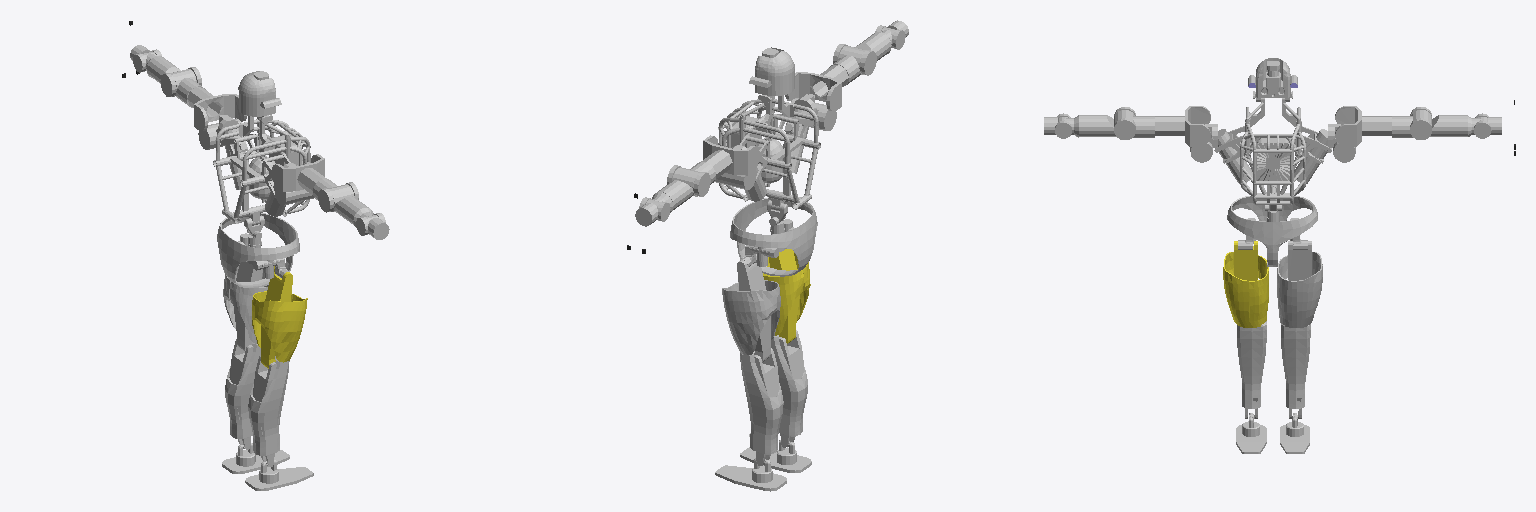
--- Render facts (derived) ---
3 views of the same robot in one strip: view 1: azimuth 30°, elevation 25°; view 2: azimuth 150°, elevation 25°; view 3: azimuth 270°, elevation 25° (orthographic).
Model drc_robot with 101 links and 100 joints (93 revolute, 7 fixed), rooted at pelvis, posed all joints at 0.
Links seen in each view (by area): view 1: utorso, r_uleg, r_lleg, pelvis, l_lleg, l_uleg, head, l_scap, r_scap, r_foot, l_larm, l_foot (+4 smaller); view 2: utorso, l_uleg, l_lleg, pelvis, r_lleg, r_uleg, head, r_scap, l_scap, l_foot, r_larm, l_larm (+6 smaller); view 3: utorso, l_uleg, r_uleg, pelvis, r_lleg, l_lleg, l_scap, r_scap, head, l_larm, r_larm, r_foot (+4 smaller).
Boxes of the visible links, <box> form: utorso: <box>213,116,310,225</box>; r_uleg: <box>252,266,307,368</box>; r_lleg: <box>248,355,289,466</box>; pelvis: <box>217,213,299,287</box>; l_lleg: <box>225,339,260,449</box>; l_uleg: <box>223,262,268,350</box>; head: <box>238,71,281,124</box>; l_scap: <box>187,87,246,131</box>; r_scap: <box>271,154,326,194</box>; r_foot: <box>245,460,313,490</box>; l_larm: <box>146,56,201,96</box>; l_foot: <box>222,443,289,473</box>; utorso: <box>718,95,820,210</box>; l_uleg: <box>722,254,780,361</box>; l_lleg: <box>740,348,783,465</box>; pelvis: <box>730,197,817,276</box>; r_lleg: <box>771,330,807,447</box>; r_uleg: <box>763,249,810,343</box>; head: <box>749,47,794,104</box>; r_scap: <box>785,65,848,111</box>; l_scap: <box>701,135,759,178</box>; l_foot: <box>715,458,786,491</box>; r_larm: <box>833,32,891,75</box>; l_larm: <box>658,165,710,209</box>; utorso: <box>1214,98,1331,204</box>; l_uleg: <box>1277,241,1322,327</box>; r_uleg: <box>1223,241,1268,327</box>; pelvis: <box>1227,196,1317,266</box>; r_lleg: <box>1237,321,1266,418</box>; l_lleg: <box>1281,323,1310,418</box>; l_scap: <box>1335,106,1391,146</box>; r_scap: <box>1155,106,1210,146</box>; head: <box>1248,58,1297,101</box>; l_larm: <box>1410,107,1467,139</box>; r_larm: <box>1079,107,1135,139</box>; r_foot: <box>1236,413,1266,453</box>.
Bounding box of the posed robot: 0.3285 × 1.91 × 1.68 m (x, y, z).
Meshes: 33 distinct files referenced, 29 mesh visuals loaded (29 Collada DAE); not drawn: 9 (reference not matched to a file when rendering).

robot.urdf — drc_robot:
<?xml version="1.0" ?>
<!-- =================================================================================== -->
<!-- |    This document was autogenerated by xacro from robots/drc_robot.model.xacro   | -->
<!-- |    EDITING THIS FILE BY HAND IS NOT RECOMMENDED                                 | -->
<!-- =================================================================================== -->
<robot name="drc_robot" xmlns:controller="http://playerstage.sourceforge.net/gazebo/xmlschema/#controller" xmlns:interface="http://playerstage.sourceforge.net/gazebo/xmlschema/#interface" xmlns:sensor="http://playerstage.sourceforge.net/gazebo/xmlschema/#sensor" xmlns:xacro="http://www.ros.org/wiki/xacro">
  <link name="head">
    <inertial>
      <mass value="2.6"/>
      <origin rpy="0 -0 0" xyz="-0.004 0 0.056"/>
      <inertia ixx="0.009" ixy="0" ixz="0" iyy="0.006" iyz="0" izz="0.007"/>
    </inertial>
    <visual>
      <origin rpy="0 -0 0" xyz="0 0 0"/>
      <geometry>
        <mesh filename="package://drc_robot/meshes/head.dae" scale="1 1 1"/>
      </geometry>
    </visual>
    <collision>
      <origin rpy="0 -0 0" xyz="0 0 0"/>
      <geometry>
        <mesh filename="package://drc_robot/meshes/head.stl" scale="1 1 1"/>
      </geometry>
    </collision>
  </link>
  <link name="l_clav">
    <inertial>
      <mass value="2.369"/>
      <origin rpy="0 -0 0" xyz="0.014 0.058 0.029"/>
      <inertia ixx="0.004" ixy="0.001" ixz="0" iyy="0.006" iyz="0" izz="0.007"/>
    </inertial>
    <visual>
      <origin rpy="0 -0 0" xyz="0 0 0"/>
      <geometry>
        <mesh filename="package://drc_robot/meshes/l_clav.dae" scale="1 1 1"/>
      </geometry>
    </visual>
    <collision>
      <origin rpy="0 -0 0" xyz="0 0 0"/>
      <geometry>
        <mesh filename="package://drc_robot/meshes/l_clav.stl" scale="1 1 1"/>
      </geometry>
    </collision>
  </link>
  <link name="l_farm">
    <inertial>
      <mass value="0.981"/>
      <origin rpy="0 -0 0" xyz="0 0.041 0"/>
      <inertia ixx="0.003" ixy="0" ixz="0" iyy="0.001" iyz="0" izz="0.003"/>
    </inertial>
    <visual>
      <origin rpy="0 -0 0" xyz="0 0 0"/>
      <geometry>
        <mesh filename="package://drc_robot/meshes/l_farm.dae" scale="1 1 1"/>
      </geometry>
    </visual>
    <collision>
      <origin rpy="0 -0 0" xyz="0 0 0"/>
      <geometry>
        <mesh filename="package://drc_robot/meshes/l_farm.stl" scale="1 1 1"/>
      </geometry>
    </collision>
  </link>
  <link name="l_foot">
    <inertial>
      <mass value="1.634"/>
      <origin rpy="0 -0 0" xyz="0.027 0 -0.067"/>
      <inertia ixx="0.002" ixy="0" ixz="0" iyy="0.007" iyz="0" izz="0.008"/>
    </inertial>
    <visual>
      <origin rpy="0 -0 0" xyz="0 0 0"/>
      <geometry>
        <mesh filename="package://drc_robot/meshes/l_foot.dae" scale="1 1 1"/>
      </geometry>
      <!--
      <origin xyz="0.048 0 -0.076119" rpy="0 0 0"/>
      <geometry>
        <box size="0.26 0.124887 0.01"/>
      </geometry>
      -->
    </visual>
    <collision>
      <origin rpy="0 -0 0" xyz="0 0 0"/>
      <geometry>
        <mesh filename="package://drc_robot/meshes/l_foot.stl" scale="1 1 1"/>
      </geometry>
      <!--
      <origin xyz="0.048 0 -0.076119" rpy="0 0 0"/>
      <geometry>
        <box size="0.26 0.124887 0.01"/>
      </geometry>
      -->
    </collision>
  </link>
  <link name="l_hand">
    <inertial>
      <mass value="2.263"/>
      <origin rpy="0 -0 0" xyz="0 0.093 0"/>
      <inertia ixx="0.01" ixy="0" ixz="0" iyy="0.002" iyz="0" izz="0.01"/>
    </inertial>
    <visual>
      <origin rpy="0 -0 0" xyz="0 0 0"/>
      <geometry>
        <mesh filename="package://drc_robot/meshes/l_hand.dae" scale="1 1 1"/>
      </geometry>
    </visual>
    <collision>
      <origin rpy="0 -0 0" xyz="0 0 0"/>
      <geometry>
        <mesh filename="package://drc_robot/meshes/l_hand.stl" scale="1 1 1"/>
      </geometry>
    </collision>
  </link>
  <link name="l_larm">
    <inertial>
      <mass value="2.148"/>
      <origin rpy="0 -0 0" xyz="-0.003 0.099 -0.014"/>
      <inertia ixx="0.005" ixy="0" ixz="0" iyy="0.003" iyz="0" izz="0.006"/>
    </inertial>
    <visual>
      <origin rpy="0 -0 0" xyz="0 0 0"/>
      <geometry>
        <mesh filename="package://drc_robot/meshes/l_larm.dae" scale="1 1 1"/>
      </geometry>
    </visual>
    <collision>
      <origin rpy="0 -0 0" xyz="0 0 0"/>
      <geometry>
        <mesh filename="package://drc_robot/meshes/l_larm.stl" scale="1 1 1"/>
      </geometry>
    </collision>
  </link>
  <link name="l_lglut">
    <inertial>
      <mass value="0.69"/>
      <origin rpy="0 -0 0" xyz="0.0133341 0.0170484 -0.0312052"/>
      <inertia ixx="0.000691326" ixy="-2.24344e-05" ixz="2.50508e-06" iyy="0.00126856" iyz="0.000137862" izz="0.00106487"/>
    </inertial>
    <visual>
      <origin rpy="0 -0 0" xyz="0 0 0"/>
      <geometry>
        <mesh filename="package://drc_robot/meshes/l_lglut.dae" scale="1 1 1"/>
      </geometry>
    </visual>
    <collision>
      <origin rpy="0 -0 0" xyz="0 0 0"/>
      <geometry>
        <mesh filename="package://drc_robot/meshes/l_lglut.stl" scale="1 1 1"/>
      </geometry>
    </collision>
  </link>
  <link name="l_lleg">
    <inertial>
      <mass value="4.367"/>
      <origin rpy="0 -0 0" xyz="0.001 0 -0.187"/>
      <inertia ixx="0.077" ixy="0" ixz="-0.003" iyy="0.076" iyz="0" izz="0.01"/>
    </inertial>
    <visual>
      <origin rpy="0 -0 0" xyz="0 0 0"/>
      <geometry>
        <mesh filename="package://drc_robot/meshes/l_lleg.dae" scale="1 1 1"/>
      </geometry>
    </visual>
    <collision>
      <origin rpy="0 -0 0" xyz="0 0 0"/>
      <geometry>
        <mesh filename="package://drc_robot/meshes/l_lleg.stl" scale="1 1 1"/>
      </geometry>
    </collision>
  </link>
  <link name="l_scap">
    <inertial>
      <mass value="2.707"/>
      <origin rpy="0 -0 0" xyz="-0.002 0.108 0"/>
      <inertia ixx="0.01" ixy="0" ixz="0" iyy="0.005" iyz="0" izz="0.013"/>
    </inertial>
    <visual>
      <origin rpy="0 -0 0" xyz="0 0 0"/>
      <geometry>
        <mesh filename="package://drc_robot/meshes/l_scap.dae" scale="1 1 1"/>
      </geometry>
    </visual>
    <collision>
      <origin rpy="0 -0 0" xyz="0 0 0"/>
      <geometry>
        <mesh filename="package://drc_robot/meshes/l_scap.stl" scale="1 1 1"/>
      </geometry>
    </collision>
  </link>
  <link name="l_talus">
    <inertial>
      <mass value="0.1"/>
      <origin rpy="0 -0 0" xyz="0 0 0"/>
      <inertia ixx="1.01674e-05" ixy="0" ixz="0" iyy="8.42775e-06" iyz="0" izz="1.30101e-05"/>
    </inertial>
    <visual>
      <origin rpy="0 -0 0" xyz="0 0 0"/>
      <geometry>
        <mesh filename="package://drc_robot/meshes/l_talus.dae" scale="1 1 1"/>
      </geometry>
    </visual>
    <collision>
      <origin rpy="0 -0 0" xyz="0 0 0"/>
      <geometry>
        <mesh filename="package://drc_robot/meshes/l_talus.stl" scale="1 1 1"/>
      </geometry>
    </collision>
  </link>
  <link name="l_uarm">
    <inertial>
      <mass value="1.881"/>
      <origin rpy="0 -0 0" xyz="0.007 0.114 0.008"/>
      <inertia ixx="0.002" ixy="0" ixz="0" iyy="0.003" iyz="0" izz="0.003"/>
    </inertial>
    <visual>
      <origin rpy="0 -0 0" xyz="0 0 0"/>
      <geometry>
        <mesh filename="package://drc_robot/meshes/l_uarm.dae" scale="1 1 1"/>
      </geometry>
    </visual>
    <collision>
      <origin rpy="0 -0 0" xyz="0 0 0"/>
      <geometry>
        <mesh filename="package://drc_robot/meshes/l_uarm.stl" scale="1 1 1"/>
      </geometry>
    </collision>
  </link>
  <link name="l_uglut">
    <inertial>
      <mass value="0.5166"/>
      <origin rpy="0 -0 0" xyz="0.00529262 -0.00344732 0.00313046"/>
      <inertia ixx="0.00074276" ixy="-3.79607e-08" ixz="-2.79549e-05" iyy="0.000688179" iyz="-3.2735e-08" izz="0.00041242"/>
    </inertial>
    <visual>
      <origin rpy="0 -0 0" xyz="0 0 0"/>
      <geometry>
        <mesh filename="package://drc_robot/meshes/l_uglut.dae" scale="1 1 1"/>
      </geometry>
    </visual>
    <collision>
      <origin rpy="0 -0 0" xyz="0 0 0"/>
      <geometry>
        <mesh filename="package://drc_robot/meshes/l_uglut.stl" scale="1 1 1"/>
      </geometry>
    </collision>
  </link>
  <link name="l_uleg">
    <inertial>
      <mass value="7.34"/>
      <origin rpy="0 -0 0" xyz="0 0 -0.21"/>
      <inertia ixx="0.09" ixy="0" ixz="0" iyy="0.09" iyz="0" izz="0.02"/>
    </inertial>
    <visual>
      <origin rpy="0 -0 0" xyz="0 0 0"/>
      <geometry>
        <mesh filename="package://drc_robot/meshes/l_uleg.dae" scale="1 1 1"/>
      </geometry>
    </visual>
    <collision>
      <origin rpy="0 -0 0" xyz="0 0 0"/>
      <geometry>
        <mesh filename="package://drc_robot/meshes/l_uleg.stl" scale="1 1 1"/>
      </geometry>
    </collision>
  </link>
  <link name="ltorso">
    <inertial>
      <mass value="1.92"/>
      <origin rpy="0 -0 0" xyz="-0.0112984 -3.15366e-06 0.0746835"/>
      <inertia ixx="0.0039092" ixy="-5.04491e-08" ixz="-0.000342157" iyy="0.00341694" iyz="4.87119e-07" izz="0.00174492"/>
    </inertial>
    <visual>
      <origin rpy="0 -0 0" xyz="0 0 0"/>
      <geometry>
        <mesh filename="package://drc_robot/meshes/ltorso.dae" scale="1 1 1"/>
      </geometry>
    </visual>
    <collision>
      <origin rpy="0 -0 0" xyz="0 0 0"/>
      <geometry>
        <mesh filename="package://drc_robot/meshes/ltorso.stl" scale="1 1 1"/>
      </geometry>
    </collision>
  </link>
  <link name="mtorso">
    <inertial>
      <mass value="0.55"/>
      <origin rpy="0 -0 0" xyz="-0.00816266 -0.0131245 0.0305974"/>
      <inertia ixx="0.000454181" ixy="-6.10764e-05" ixz="3.94009e-05" iyy="0.000483282" iyz="5.27463e-05" izz="0.000444215"/>
    </inertial>
    <visual>
      <origin rpy="0 -0 0" xyz="0 0 0"/>
      <geometry>
        <mesh filename="package://drc_robot/meshes/mtorso.dae" scale="1 1 1"/>
      </geometry>
    </visual>
    <collision>
      <origin rpy="0 -0 0" xyz="0 0 0"/>
      <geometry>
        <mesh filename="package://drc_robot/meshes/mtorso.stl" scale="1 1 1"/>
      </geometry>
    </collision>
  </link>
  <link name="pelvis">
    <inertial>
      <mass value="14.2529"/>
      <origin rpy="0 -0 0" xyz="0.0111 0 0.0271"/>
      <inertia ixx="0.1244" ixy="0.0008" ixz="-0.0007" iyy="0.0958" iyz="-0.0005" izz="0.1167"/>
    </inertial>
    <visual>
      <origin rpy="0 -0 0" xyz="0 0 0"/>
      <geometry>
        <mesh filename="package://drc_robot/meshes/pelvis.dae" scale="1 1 1"/>
      </geometry>
    </visual>
    <collision>
      <origin rpy="0 -0 0" xyz="0 0 0"/>
      <geometry>
        <mesh filename="package://drc_robot/meshes/pelvis.stl" scale="1 1 1"/>
      </geometry>
    </collision>
  </link>
  <link name="r_clav">
    <inertial>
      <mass value="2.369"/>
      <origin rpy="0 -0 0" xyz="0.014 -0.058 0.029"/>
      <inertia ixx="0.004" ixy="-0.001" ixz="0" iyy="0.006" iyz="0" izz="0.007"/>
    </inertial>
    <visual>
      <origin rpy="0 -0 0" xyz="0 0 0"/>
      <geometry>
        <mesh filename="package://drc_robot/meshes/r_clav.dae" scale="1 1 1"/>
      </geometry>
    </visual>
    <collision>
      <origin rpy="0 -0 0" xyz="0 0 0"/>
      <geometry>
        <mesh filename="package://drc_robot/meshes/r_clav.stl" scale="1 1 1"/>
      </geometry>
    </collision>
  </link>
  <link name="r_farm">
    <inertial>
      <mass value="0.981"/>
      <origin rpy="0 -0 0" xyz="0 -0.041 0"/>
      <inertia ixx="0.003" ixy="0" ixz="0" iyy="0.001" iyz="0" izz="0.003"/>
    </inertial>
    <visual>
      <origin rpy="0 -0 0" xyz="0 0 0"/>
      <geometry>
        <mesh filename="package://drc_robot/meshes/r_farm.dae" scale="1 1 1"/>
      </geometry>
    </visual>
    <collision>
      <origin rpy="0 -0 0" xyz="0 0 0"/>
      <geometry>
        <mesh filename="package://drc_robot/meshes/r_farm.stl" scale="1 1 1"/>
      </geometry>
    </collision>
  </link>
  <link name="r_foot">
    <inertial>
      <mass value="1.634"/>
      <origin rpy="0 -0 0" xyz="0.027 0 -0.067"/>
      <inertia ixx="0.002" ixy="0" ixz="0" iyy="0.007" iyz="0" izz="0.008"/>
    </inertial>
    <visual>
      <origin rpy="0 -0 0" xyz="0 0 0"/>
      <geometry>
        <mesh filename="package://drc_robot/meshes/r_foot.dae" scale="1 1 1"/>
      </geometry>
      <!--
      <origin xyz="0.048 0 -0.076119" rpy="0 0 0"/>
      <geometry>
        <box size="0.26 0.124887 0.01"/>
      </geometry>
      -->
    </visual>
    <collision>
      <origin rpy="0 -0 0" xyz="0 0 0"/>
      <geometry>
        <mesh filename="package://drc_robot/meshes/r_foot.stl" scale="1 1 1"/>
      </geometry>
      <!--
      <origin xyz="0.048 0 -0.076119" rpy="0 0 0"/>
      <geometry>
        <box size="0.26 0.124887 0.01"/>
      </geometry>
      -->
    </collision>
  </link>
  <link name="r_hand">
    <inertial>
      <mass value="2.263"/>
      <origin rpy="0 -0 0" xyz="0 -0.093 0"/>
      <inertia ixx="0.01" ixy="0" ixz="0" iyy="0.002" iyz="0" izz="0.01"/>
    </inertial>
    <visual>
      <origin rpy="0 -0 0" xyz="0 0 0"/>
      <geometry>
        <mesh filename="package://drc_robot/meshes/r_hand.dae" scale="1 1 1"/>
      </geometry>
    </visual>
    <collision>
      <origin rpy="0 -0 0" xyz="0 0 0"/>
      <geometry>
        <mesh filename="package://drc_robot/meshes/r_hand.stl" scale="1 1 1"/>
      </geometry>
    </collision>
  </link>
  <link name="r_larm">
    <inertial>
      <mass value="2.148"/>
      <origin rpy="0 -0 0" xyz="-0.003 -0.099 -0.014"/>
      <inertia ixx="0.005" ixy="0" ixz="0" iyy="0.003" iyz="0" izz="0.006"/>
    </inertial>
    <visual>
      <origin rpy="0 -0 0" xyz="0 0 0"/>
      <geometry>
        <mesh filename="package://drc_robot/meshes/r_larm.dae" scale="1 1 1"/>
      </geometry>
    </visual>
    <collision>
      <origin rpy="0 -0 0" xyz="0 0 0"/>
      <geometry>
        <mesh filename="package://drc_robot/meshes/r_larm.stl" scale="1 1 1"/>
      </geometry>
    </collision>
  </link>
  <link name="r_lglut">
    <inertial>
      <mass value="0.69"/>
      <origin rpy="0 -0 0" xyz="0.0133341 -0.0170484 -0.0312052"/>
      <inertia ixx="0.000691326" ixy="2.24344e-05" ixz="2.50508e-06" iyy="0.00126856" iyz="-0.000137862" izz="0.00106487"/>
    </inertial>
    <visual>
      <origin rpy="0 -0 0" xyz="0 0 0"/>
      <geometry>
        <mesh filename="package://drc_robot/meshes/r_lglut.dae" scale="1 1 1"/>
      </geometry>
    </visual>
    <collision>
      <origin rpy="0 -0 0" xyz="0 0 0"/>
      <geometry>
        <mesh filename="package://drc_robot/meshes/r_lglut.stl" scale="1 1 1"/>
      </geometry>
    </collision>
  </link>
  <link name="r_lleg">
    <inertial>
      <mass value="4.367"/>
      <origin rpy="0 -0 0" xyz="0.001 0 -0.187"/>
      <inertia ixx="0.077" ixy="-0" ixz="-0.003" iyy="0.076" iyz="-0" izz="0.01"/>
    </inertial>
    <visual>
      <origin rpy="0 -0 0" xyz="0 0 0"/>
      <geometry>
        <mesh filename="package://drc_robot/meshes/r_lleg.dae" scale="1 1 1"/>
      </geometry>
    </visual>
    <collision>
      <origin rpy="0 -0 0" xyz="0 0 0"/>
      <geometry>
        <mesh filename="package://drc_robot/meshes/r_lleg.stl" scale="1 1 1"/>
      </geometry>
    </collision>
  </link>
  <link name="r_scap">
    <inertial>
      <mass value="2.707"/>
      <origin rpy="0 -0 0" xyz="-0.002 -0.108 0"/>
      <inertia ixx="0.01" ixy="0" ixz="0" iyy="0.005" iyz="0" izz="0.013"/>
    </inertial>
    <visual>
      <origin rpy="0 -0 0" xyz="0 0 0"/>
      <geometry>
        <mesh filename="package://drc_robot/meshes/r_scap.dae" scale="1 1 1"/>
      </geometry>
    </visual>
    <collision>
      <origin rpy="0 -0 0" xyz="0 0 0"/>
      <geometry>
        <mesh filename="package://drc_robot/meshes/r_scap.stl" scale="1 1 1"/>
      </geometry>
    </collision>
  </link>
  <link name="r_talus">
    <inertial>
      <mass value="0.1"/>
      <origin rpy="0 -0 0" xyz="0 0 0"/>
      <inertia ixx="1.01674e-05" ixy="0" ixz="0" iyy="8.42775e-06" iyz="0" izz="1.30101e-05"/>
    </inertial>
    <visual>
      <origin rpy="0 -0 0" xyz="0 0 0"/>
      <geometry>
        <mesh filename="package://drc_robot/meshes/r_talus.dae" scale="1 1 1"/>
      </geometry>
    </visual>
    <collision>
      <origin rpy="0 -0 0" xyz="0 0 0"/>
      <geometry>
        <mesh filename="package://drc_robot/meshes/r_talus.stl" scale="1 1 1"/>
      </geometry>
    </collision>
  </link>
  <link name="r_uarm">
    <inertial>
      <mass value="1.881"/>
      <origin rpy="0 -0 0" xyz="0.007 -0.114 0.008"/>
      <inertia ixx="0.002" ixy="0" ixz="0" iyy="0.003" iyz="0" izz="0.003"/>
    </inertial>
    <visual>
      <origin rpy="0 -0 0" xyz="0 0 0"/>
      <geometry>
        <mesh filename="package://drc_robot/meshes/r_uarm.dae" scale="1 1 1"/>
      </geometry>
    </visual>
    <collision>
      <origin rpy="0 -0 0" xyz="0 0 0"/>
      <geometry>
        <mesh filename="package://drc_robot/meshes/r_uarm.stl" scale="1 1 1"/>
      </geometry>
    </collision>
  </link>
  <link name="r_uglut">
    <inertial>
      <mass value="0.5166"/>
      <origin rpy="0 -0 0" xyz="0.00529262 0.00344732 0.00313046"/>
      <inertia ixx="0.00074276" ixy="3.79607e-08" ixz="-2.79549e-05" iyy="0.000688179" iyz="3.2735e-08" izz="0.00041242"/>
    </inertial>
    <visual>
      <origin rpy="0 -0 0" xyz="0 0 0"/>
      <geometry>
        <mesh filename="package://drc_robot/meshes/r_uglut.dae" scale="1 1 1"/>
      </geometry>
    </visual>
    <collision>
      <origin rpy="0 -0 0" xyz="0 0 0"/>
      <geometry>
        <mesh filename="package://drc_robot/meshes/r_uglut.stl" scale="1 1 1"/>
      </geometry>
    </collision>
  </link>
  <link name="r_uleg">
    <inertial>
      <mass value="7.34"/>
      <origin rpy="0 -0 0" xyz="0 0 -0.21"/>
      <inertia ixx="0.09" ixy="0" ixz="0" iyy="0.09" iyz="0" izz="0.02"/>
    </inertial>
    <visual>
      <origin rpy="0 -0 0" xyz="0 0 0"/>
      <geometry>
        <mesh filename="package://drc_robot/meshes/r_uleg.dae" scale="1 1 1"/>
      </geometry>
    </visual>
    <collision>
      <origin rpy="0 -0 0" xyz="0 0 0"/>
      <geometry>
        <mesh filename="package://drc_robot/meshes/r_uleg.stl" scale="1 1 1"/>
      </geometry>
    </collision>
  </link>
  <link name="utorso">
    <inertial>
      <mass value="18.484"/>
      <origin rpy="0 -0 0" xyz="0.02 -0.001 0.211"/>
      <inertia ixx="0.395" ixy="0" ixz="0.083" iyy="1.089" iyz="-0.003" izz="0.327"/>
    </inertial>
    <visual>
      <origin rpy="0 -0 0" xyz="0 0 0"/>
      <geometry>
        <mesh filename="package://drc_robot/meshes/utorso.dae" scale="1 1 1"/>
      </geometry>
    </visual>
    <collision>
      <origin rpy="0 -0 0" xyz="0 0 0"/>
      <geometry>
        <mesh filename="package://drc_robot/meshes/utorso.stl" scale="1 1 1"/>
      </geometry>
    </collision>
  </link>
  <joint name="back_lbz" type="revolute">
    <origin rpy="0 -0 0" xyz="-0.0125 0 0"/>
    <axis xyz="0 0 1"/>
    <parent link="pelvis"/>
    <child link="ltorso"/>
    <dynamics damping="0.1" friction="0"/>
    <limit effort="124.016" lower="-0.610865" upper="0.610865" velocity="12"/>
    <safety_controller k_position="100" k_velocity="100" soft_lower_limit="-10.6109" soft_upper_limit="10.6109"/>
  </joint>
  <joint name="back_mby" type="revolute">
    <origin rpy="0 -0 0" xyz="0 0 0.09"/>
    <axis xyz="0 1 0"/>
    <parent link="ltorso"/>
    <child link="mtorso"/>
    <dynamics damping="0.1" friction="0"/>
    <limit effort="206.843" lower="-1.2" upper="1.28" velocity="12"/>
    <safety_controller k_position="100" k_velocity="100" soft_lower_limit="-11.2" soft_upper_limit="11.28"/>
  </joint>
  <joint name="back_ubx" type="revolute">
    <origin rpy="0 -0 0" xyz="0 0 0.05"/>
    <axis xyz="1 0 0"/>
    <parent link="mtorso"/>
    <child link="utorso"/>
    <dynamics damping="0.1" friction="0"/>
    <limit effort="94.91" lower="-0.790809" upper="0.790809" velocity="12"/>
    <safety_controller k_position="100" k_velocity="100" soft_lower_limit="-10.7908" soft_upper_limit="10.7908"/>
  </joint>
  <joint name="l_arm_elx" type="revolute">
    <origin rpy="0 -0 0" xyz="0 0.121 0.013"/>
    <axis xyz="1 0 0"/>
    <parent link="l_uarm"/>
    <child link="l_larm"/>
    <dynamics damping="0.1" friction="0"/>
    <limit effort="114" lower="0" upper="2.35619" velocity="12"/>
    <safety_controller k_position="100" k_velocity="100" soft_lower_limit="-10" soft_upper_limit="12.3562"/>
  </joint>
  <joint name="l_arm_ely" type="revolute">
    <origin rpy="0 -0 0" xyz="0 0.185 0"/>
    <axis xyz="0 1 0"/>
    <parent link="l_scap"/>
    <child link="l_uarm"/>
    <dynamics damping="0.1" friction="0"/>
    <limit effort="114" lower="0" upper="3.14159" velocity="12"/>
    <safety_controller k_position="100" k_velocity="100" soft_lower_limit="-10" soft_upper_limit="13.1416"/>
  </joint>
  <joint name="l_arm_mwx" type="revolute">
    <origin rpy="0 -0 0" xyz="0 0.058 0"/>
    <axis xyz="1 0 0"/>
    <parent link="l_farm"/>
    <child link="l_hand"/>
    <dynamics damping="0.1" friction="0"/>
    <limit effort="60" lower="-0.436" upper="1.571" velocity="12"/>
    <safety_controller k_position="100" k_velocity="100" soft_lower_limit="-10.436" soft_upper_limit="11.571"/>
  </joint>
  <joint name="l_arm_shx" type="revolute">
    <origin rpy="0 -0 0" xyz="0 0.075 0.036"/>
    <axis xyz="1 0 0"/>
    <parent link="l_clav"/>
    <child link="l_scap"/>
    <dynamics damping="0.1" friction="0"/>
    <limit effort="170" lower="-1.39626" upper="1.74533" velocity="12"/>
    <safety_controller k_position="100" k_velocity="100" soft_lower_limit="-11.3963" soft_upper_limit="11.7453"/>
  </joint>
  <joint name="l_arm_usy" type="revolute">
    <origin rpy="0 -0 0" xyz="0.024 0.221 0.289"/>
    <axis xyz="0 0.5 0.866025"/>
    <parent link="utorso"/>
    <child link="l_clav"/>
    <dynamics damping="0.1" friction="0"/>
    <limit effort="212" lower="-1.9635" upper="1.9635" velocity="12"/>
    <safety_controller k_position="100" k_velocity="100" soft_lower_limit="-11.9635" soft_upper_limit="11.9635"/>
  </joint>
  <joint name="l_arm_uwy" type="revolute">
    <origin rpy="0 -0 0" xyz="0 0.188 -0.013"/>
    <axis xyz="0 1 0"/>
    <parent link="l_larm"/>
    <child link="l_farm"/>
    <dynamics damping="0.1" friction="0"/>
    <limit effort="114" lower="-1.571" upper="1.571" velocity="12"/>
    <safety_controller k_position="100" k_velocity="100" soft_lower_limit="-11.571" soft_upper_limit="11.571"/>
  </joint>
  <joint name="l_leg_kny" type="revolute">
    <origin rpy="0 -0 0" xyz="-0.05 0 -0.374"/>
    <axis xyz="0 1 0"/>
    <parent link="l_uleg"/>
    <child link="l_lleg"/>
    <dynamics damping="0.1" friction="0"/>
    <limit effort="220" lower="0" upper="2.45" velocity="12"/>
    <safety_controller k_position="100" k_velocity="100" soft_lower_limit="-10" soft_upper_limit="12.45"/>
  </joint>
  <joint name="l_leg_lax" type="revolute">
    <origin rpy="0 -0 0" xyz="0 0 0"/>
    <axis xyz="1 0 0"/>
    <parent link="l_talus"/>
    <child link="l_foot"/>
    <dynamics damping="0.1" friction="0"/>
    <limit effort="90" lower="-0.436" upper="0.436" velocity="12"/>
    <safety_controller k_position="100" k_velocity="100" soft_lower_limit="-10.436" soft_upper_limit="10.436"/>
  </joint>
  <joint name="l_leg_lhy" type="revolute">
    <origin rpy="0 -0 0" xyz="0.05 0 -0.05"/>
    <axis xyz="0 1 0"/>
    <parent link="l_lglut"/>
    <child link="l_uleg"/>
    <dynamics damping="0.1" friction="0"/>
    <limit effort="260" lower="-1.75" upper="0.524" velocity="12"/>
    <safety_controller k_position="100" k_velocity="100" soft_lower_limit="-11.75" soft_upper_limit="10.524"/>
  </joint>
  <joint name="l_leg_mhx" type="revolute">
    <origin rpy="0 -0 0" xyz="0 0 0"/>
    <axis xyz="1 0 0"/>
    <parent link="l_uglut"/>
    <child link="l_lglut"/>
    <dynamics damping="0.1" friction="0"/>
    <limit effort="180" lower="-0.47" upper="0.495" velocity="12"/>
    <safety_controller k_position="100" k_velocity="100" soft_lower_limit="-10.47" soft_upper_limit="10.495"/>
  </joint>
  <joint name="l_leg_uay" type="revolute">
    <origin rpy="0 -0 0" xyz="0 0 -0.422"/>
    <axis xyz="0 1 0"/>
    <parent link="l_lleg"/>
    <child link="l_talus"/>
    <dynamics damping="0.1" friction="0"/>
    <limit effort="220" lower="-0.698" upper="0.698" velocity="12"/>
    <safety_controller k_position="100" k_velocity="100" soft_lower_limit="-10.698" soft_upper_limit="10.698"/>
  </joint>
  <joint name="l_leg_uhz" type="revolute">
    <origin rpy="0 -0 0" xyz="0 0.089 0"/>
    <axis xyz="0 0 1"/>
    <parent link="pelvis"/>
    <child link="l_uglut"/>
    <dynamics damping="0.1" friction="0"/>
    <limit effort="110" lower="-0.32" upper="1.14" velocity="12"/>
    <safety_controller k_position="100" k_velocity="100" soft_lower_limit="-10.32" soft_upper_limit="11.14"/>
  </joint>
  <joint name="neck_ay" type="revolute">
    <origin rpy="0 -0 0" xyz="0.011 0 0.44"/>
    <axis xyz="0 1 0"/>
    <parent link="utorso"/>
    <child link="head"/>
    <dynamics damping="0.1" friction="0"/>
    <limit effort="5" lower="-0.785398" upper="0.785398" velocity="12"/>
    <safety_controller k_position="100" k_velocity="100" soft_lower_limit="-10.7854" soft_upper_limit="10.7854"/>
  </joint>
  <joint name="r_arm_elx" type="revolute">
    <origin rpy="0 -0 0" xyz="0 -0.121 0.013"/>
    <axis xyz="1 0 0"/>
    <parent link="r_uarm"/>
    <child link="r_larm"/>
    <dynamics damping="0.1" friction="0"/>
    <limit effort="114" lower="-2.35619" upper="0" velocity="12"/>
    <safety_controller k_position="100" k_velocity="100" soft_lower_limit="-12.3562" soft_upper_limit="10"/>
  </joint>
  <joint name="r_arm_ely" type="revolute">
    <origin rpy="0 -0 0" xyz="0 -0.185 0"/>
    <axis xyz="0 1 0"/>
    <parent link="r_scap"/>
    <child link="r_uarm"/>
    <dynamics damping="0.1" friction="0"/>
    <limit effort="114" lower="0" upper="3.14159" velocity="12"/>
    <safety_controller k_position="100" k_velocity="100" soft_lower_limit="-10" soft_upper_limit="13.1416"/>
  </joint>
  <joint name="r_arm_mwx" type="revolute">
    <origin rpy="0 -0 0" xyz="0 -0.058 0"/>
    <axis xyz="1 0 0"/>
    <parent link="r_farm"/>
    <child link="r_hand"/>
    <dynamics damping="0.1" friction="0"/>
    <limit effort="60" lower="-1.571" upper="0.436" velocity="12"/>
    <safety_controller k_position="100" k_velocity="100" soft_lower_limit="-11.571" soft_upper_limit="10.436"/>
  </joint>
  <joint name="r_arm_shx" type="revolute">
    <origin rpy="0 -0 0" xyz="0 -0.075 0.036"/>
    <axis xyz="1 0 0"/>
    <parent link="r_clav"/>
    <child link="r_scap"/>
    <dynamics damping="0.1" friction="0"/>
    <limit effort="170" lower="-1.74533" upper="1.39626" velocity="12"/>
    <safety_controller k_position="100" k_velocity="100" soft_lower_limit="-11.7453" soft_upper_limit="11.3963"/>
  </joint>
  <joint name="r_arm_usy" type="revolute">
    <origin rpy="0 -0 0" xyz="0.024 -0.221 0.289"/>
    <axis xyz="0 0.5 -0.866025"/>
    <parent link="utorso"/>
    <child link="r_clav"/>
    <dynamics damping="0.1" friction="0"/>
    <limit effort="212" lower="-1.9635" upper="1.9635" velocity="12"/>
    <safety_controller k_position="100" k_velocity="100" soft_lower_limit="-11.9635" soft_upper_limit="11.9635"/>
  </joint>
  <joint name="r_arm_uwy" type="revolute">
    <origin rpy="0 -0 0" xyz="0 -0.188 -0.013"/>
    <axis xyz="0 1 0"/>
    <parent link="r_larm"/>
    <child link="r_farm"/>
    <dynamics damping="0.1" friction="0"/>
    <limit effort="114" lower="-1.571" upper="1.571" velocity="12"/>
    <safety_controller k_position="100" k_velocity="100" soft_lower_limit="-11.571" soft_upper_limit="11.571"/>
  </joint>
  <joint name="r_leg_kny" type="revolute">
    <origin rpy="0 -0 0" xyz="-0.05 0 -0.374"/>
    <axis xyz="0 1 0"/>
    <parent link="r_uleg"/>
    <child link="r_lleg"/>
    <dynamics damping="0.1" friction="0"/>
    <limit effort="220" lower="0" upper="2.45" velocity="12"/>
    <safety_controller k_position="100" k_velocity="100" soft_lower_limit="-10" soft_upper_limit="12.45"/>
  </joint>
  <joint name="r_leg_lax" type="revolute">
    <origin rpy="0 -0 0" xyz="0 0 0"/>
    <axis xyz="1 0 0"/>
    <parent link="r_talus"/>
    <child link="r_foot"/>
    <dynamics damping="0.1" friction="0"/>
    <limit effort="90" lower="-0.436" upper="0.436" velocity="12"/>
    <safety_controller k_position="100" k_velocity="100" soft_lower_limit="-10.436" soft_upper_limit="10.436"/>
  </joint>
  <joint name="r_leg_lhy" type="revolute">
    <origin rpy="0 -0 0" xyz="0.05 0 -0.05"/>
    <axis xyz="0 1 0"/>
    <parent link="r_lglut"/>
    <child link="r_uleg"/>
    <dynamics damping="0.1" friction="0"/>
    <limit effort="260" lower="-1.745" upper="0.524" velocity="12"/>
    <safety_controller k_position="100" k_velocity="100" soft_lower_limit="-11.745" soft_upper_limit="10.524"/>
  </joint>
  <joint name="r_leg_mhx" type="revolute">
    <origin rpy="0 -0 0" xyz="0 0 0"/>
    <axis xyz="1 0 0"/>
    <parent link="r_uglut"/>
    <child link="r_lglut"/>
    <dynamics damping="0.1" friction="0"/>
    <limit effort="180" lower="-0.495" upper="0.47" velocity="12"/>
    <safety_controller k_position="100" k_velocity="100" soft_lower_limit="-10.495" soft_upper_limit="10.47"/>
  </joint>
  <joint name="r_leg_uay" type="revolute">
    <origin rpy="0 -0 0" xyz="0 0 -0.422"/>
    <axis xyz="0 1 0"/>
    <parent link="r_lleg"/>
    <child link="r_talus"/>
    <dynamics damping="0.1" friction="0"/>
    <limit effort="220" lower="-0.698" upper="0.698" velocity="12"/>
    <safety_controller k_position="100" k_velocity="100" soft_lower_limit="-10.698" soft_upper_limit="10.698"/>
  </joint>
  <joint name="r_leg_uhz" type="revolute">
    <origin rpy="0 -0 0" xyz="0 -0.089 0"/>
    <axis xyz="0 0 1"/>
    <parent link="pelvis"/>
    <child link="r_uglut"/>
    <dynamics damping="0.1" friction="0"/>
    <limit effort="260" lower="-1.14" upper="0.32" velocity="12"/>
    <safety_controller k_position="100" k_velocity="100" soft_lower_limit="-11.14" soft_upper_limit="10.32"/>
  </joint>
  <gazebo>
    <!-- robot model offset -->
    <pose>0 0 0.93 0 0 0</pose>
  </gazebo>
  <gazebo>
    <plugin filename="libDRCRobotPlugin.so" name="drc_robot_plugin"/>
    <plugin filename="libgazebo_ros_joint_trajectory.so" name="joint_trajectory_plugin">
      <topicName>joint_trajectory</topicName>
      <updateRate>1000.0</updateRate>
    </plugin>
    <plugin filename="libgazebo_ros_controller_manager.so" name="gazebo_ros_controller_manager">
      <alwaysOn>true</alwaysOn>
      <updateRate>1000.0</updateRate>
    </plugin>
  </gazebo>
  <link name="imu_link">
    <inertial>
      <mass value="0.1"/>
      <origin xyz="0 0 0"/>
      <inertia ixx="0.001" ixy="0" ixz="0" iyy="0.001" iyz="0" izz="0.001"/>
    </inertial>
    <collision>
      <origin rpy="0 0 0" xyz="0 0 0"/>
      <geometry>
        <box size="0.01 0.01 0.01"/>
      </geometry>
    </collision>
    <visual>
      <origin rpy="0 0 0" xyz="0 0 0"/>
      <geometry>
        <box size="0.01 0.01 0.01"/>
      </geometry>
    </visual>
  </link>
  <joint name="imu_joint" type="fixed">
    <parent link="pelvis"/>
    <child link="imu_link"/>
    <origin rpy="0.05991527603 0 -0.01415" xyz="0 0 0"/>
  </joint>
  <gazebo>
    <plugin filename="libgazebo_ros_imu.so" name="drc_robot_imu">
      <alwaysOn>true</alwaysOn>
      <updateRate>100.0</updateRate>
      <bodyName>imu_link</bodyName>
      <topicName>imu</topicName>
      <gaussianNoise>0.0</gaussianNoise>
      <xyzOffsets>0 0 0</xyzOffsets>
      <rpyOffsets>0 0 0</rpyOffsets>
    </plugin>
  </gazebo>
  <gazebo reference="r_foot">
    <mu1>10.0</mu1>
    <mu2>10.0</mu2>
    <fdir1>1 0 0</fdir1>
    <maxVel>0.0</maxVel>
    <minDepth>0.001</minDepth>
  </gazebo>
  <gazebo reference="l_foot">
    <mu1>10.0</mu1>
    <mu2>10.0</mu2>
    <fdir1>1 0 0</fdir1>
    <maxVel>0.0</maxVel>
    <minDepth>0.001</minDepth>
  </gazebo>
  <transmission name="back_lbz_trans" type="pr2_mechanism_model/SimpleTransmission">
    <joint name="back_lbz"/>
    <actuator name="back_lbz_motor"/>
    <mechanicalReduction>1</mechanicalReduction>
  </transmission>
  <transmission name="back_mby_trans" type="pr2_mechanism_model/SimpleTransmission">
    <actuator name="back_mby_motor"/>
    <joint name="back_mby"/>
    <mechanicalReduction>1</mechanicalReduction>
  </transmission>
  <transmission name="back_ubx_trans" type="pr2_mechanism_model/SimpleTransmission">
    <actuator name="back_ubx_motor"/>
    <joint name="back_ubx"/>
    <mechanicalReduction>1</mechanicalReduction>
  </transmission>
  <transmission name="l_arm_elx_trans" type="pr2_mechanism_model/SimpleTransmission">
    <actuator name="l_arm_elx_motor"/>
    <joint name="l_arm_elx"/>
    <mechanicalReduction>1</mechanicalReduction>
  </transmission>
  <transmission name="l_arm_ely_trans" type="pr2_mechanism_model/SimpleTransmission">
    <actuator name="l_arm_ely_motor"/>
    <joint name="l_arm_ely"/>
    <mechanicalReduction>1</mechanicalReduction>
  </transmission>
  <transmission name="l_arm_mwx_trans" type="pr2_mechanism_model/SimpleTransmission">
    <actuator name="l_arm_mwx_motor"/>
    <joint name="l_arm_mwx"/>
    <mechanicalReduction>1</mechanicalReduction>
  </transmission>
  <transmission name="l_arm_shx_trans" type="pr2_mechanism_model/SimpleTransmission">
    <actuator name="l_arm_shx_motor"/>
    <joint name="l_arm_shx"/>
    <mechanicalReduction>1</mechanicalReduction>
  </transmission>
  <transmission name="l_arm_usy_trans" type="pr2_mechanism_model/SimpleTransmission">
    <actuator name="l_arm_usy_motor"/>
    <joint name="l_arm_usy"/>
    <mechanicalReduction>1</mechanicalReduction>
  </transmission>
  <transmission name="l_arm_uwy_trans" type="pr2_mechanism_model/SimpleTransmission">
    <actuator name="l_arm_uwy_motor"/>
    <joint name="l_arm_uwy"/>
    <mechanicalReduction>1</mechanicalReduction>
  </transmission>
  <transmission name="l_leg_kny_trans" type="pr2_mechanism_model/SimpleTransmission">
    <actuator name="l_leg_kny_motor"/>
    <joint name="l_leg_kny"/>
    <mechanicalReduction>1</mechanicalReduction>
  </transmission>
  <transmission name="l_leg_lax_trans" type="pr2_mechanism_model/SimpleTransmission">
    <actuator name="l_leg_lax_motor"/>
    <joint name="l_leg_lax"/>
    <mechanicalReduction>1</mechanicalReduction>
  </transmission>
  <transmission name="l_leg_lhy_trans" type="pr2_mechanism_model/SimpleTransmission">
    <actuator name="l_leg_lhy_motor"/>
    <joint name="l_leg_lhy"/>
    <mechanicalReduction>1</mechanicalReduction>
  </transmission>
  <transmission name="l_leg_mhx_trans" type="pr2_mechanism_model/SimpleTransmission">
    <actuator name="l_leg_mhx_motor"/>
    <joint name="l_leg_mhx"/>
    <mechanicalReduction>1</mechanicalReduction>
  </transmission>
  <transmission name="l_leg_uay_trans" type="pr2_mechanism_model/SimpleTransmission">
    <actuator name="l_leg_uay_motor"/>
    <joint name="l_leg_uay"/>
    <mechanicalReduction>1</mechanicalReduction>
  </transmission>
  <transmission name="l_leg_uhz_trans" type="pr2_mechanism_model/SimpleTransmission">
    <actuator name="l_leg_uhz_motor"/>
    <joint name="l_leg_uhz"/>
    <mechanicalReduction>1</mechanicalReduction>
  </transmission>
  <transmission name="neck_ay_trans" type="pr2_mechanism_model/SimpleTransmission">
    <actuator name="neck_ay_motor"/>
    <joint name="neck_ay"/>
    <mechanicalReduction>1</mechanicalReduction>
  </transmission>
  <transmission name="r_arm_elx_trans" type="pr2_mechanism_model/SimpleTransmission">
    <actuator name="r_arm_elx_motor"/>
    <joint name="r_arm_elx"/>
    <mechanicalReduction>1</mechanicalReduction>
  </transmission>
  <transmission name="r_arm_ely_trans" type="pr2_mechanism_model/SimpleTransmission">
    <actuator name="r_arm_ely_motor"/>
    <joint name="r_arm_ely"/>
    <mechanicalReduction>1</mechanicalReduction>
  </transmission>
  <transmission name="r_arm_mwx_trans" type="pr2_mechanism_model/SimpleTransmission">
    <actuator name="r_arm_mwx_motor"/>
    <joint name="r_arm_mwx"/>
    <mechanicalReduction>1</mechanicalReduction>
  </transmission>
  <transmission name="r_arm_shx_trans" type="pr2_mechanism_model/SimpleTransmission">
    <actuator name="r_arm_shx_motor"/>
    <joint name="r_arm_shx"/>
    <mechanicalReduction>1</mechanicalReduction>
  </transmission>
  <transmission name="r_arm_usy_trans" type="pr2_mechanism_model/SimpleTransmission">
    <actuator name="r_arm_usy_motor"/>
    <joint name="r_arm_usy"/>
    <mechanicalReduction>1</mechanicalReduction>
  </transmission>
  <transmission name="r_arm_uwy_trans" type="pr2_mechanism_model/SimpleTransmission">
    <actuator name="r_arm_uwy_motor"/>
    <joint name="r_arm_uwy"/>
    <mechanicalReduction>1</mechanicalReduction>
  </transmission>
  <transmission name="r_leg_kny_trans" type="pr2_mechanism_model/SimpleTransmission">
    <actuator name="r_leg_kny_motor"/>
    <joint name="r_leg_kny"/>
    <mechanicalReduction>1</mechanicalReduction>
  </transmission>
  <transmission name="r_leg_lax_trans" type="pr2_mechanism_model/SimpleTransmission">
    <actuator name="r_leg_lax_motor"/>
    <joint name="r_leg_lax"/>
    <mechanicalReduction>1</mechanicalReduction>
  </transmission>
  <transmission name="r_leg_lhy_trans" type="pr2_mechanism_model/SimpleTransmission">
    <actuator name="r_leg_lhy_motor"/>
    <joint name="r_leg_lhy"/>
    <mechanicalReduction>1</mechanicalReduction>
  </transmission>
  <transmission name="r_leg_mhx_trans" type="pr2_mechanism_model/SimpleTransmission">
    <actuator name="r_leg_mhx_motor"/>
    <joint name="r_leg_mhx"/>
    <mechanicalReduction>1</mechanicalReduction>
  </transmission>
  <transmission name="r_leg_uay_trans" type="pr2_mechanism_model/SimpleTransmission">
    <actuator name="r_leg_uay_motor"/>
    <joint name="r_leg_uay"/>
    <mechanicalReduction>1</mechanicalReduction>
  </transmission>
  <transmission name="r_leg_uhz_trans" type="pr2_mechanism_model/SimpleTransmission">
    <actuator name="r_leg_uhz_motor"/>
    <joint name="r_leg_uhz"/>
    <mechanicalReduction>1</mechanicalReduction>
  </transmission>
  <joint name="head_hokuyo_joint" type="fixed">
    <axis xyz="0 1 0"/>
    <origin rpy="0 0 0" xyz="0.03 0 0.13"/>
    <parent link="head"/>
    <child link="head_hokuyo"/>
  </joint>
  <link name="head_hokuyo" type="laser">
    <inertial>
      <mass value="0.1"/>
      <origin rpy="0 0 0" xyz="0 0 0"/>
      <inertia ixx="0.001" ixy="0" ixz="0" iyy="0.001" iyz="0" izz="0.001"/>
    </inertial>
  </link>
  <gazebo reference="head_hokuyo">
    <sensor name="head_hokuyo_sensor" type="ray">
      <pose>0 0 0 0 0 0</pose>
      <visualize>false</visualize>
      <update_rate>40</update_rate>
      <ray>
        <scan>
          <horizontal>
            <samples>640</samples>
            <resolution>1</resolution>
            <min_angle>-1.57</min_angle>
            <max_angle>1.57</max_angle>
          </horizontal>
        </scan>
        <range>
          <min>0.08</min>
          <max>10.0</max>
          <resolution>0.01</resolution>
        </range>
      </ray>
      <plugin filename="libgazebo_ros_laser.so" name="gazebo_ros_head_hokuyo_controller">
        <gaussianNoise>0.005</gaussianNoise>
        <alwaysOn>true</alwaysOn>
        <updateRate>40</updateRate>
        <topicName>/scan</topicName>
        <frameName>head_hokuyo</frameName>
      </plugin>
    </sensor>
  </gazebo>
  <joint name="left_camera_frame_joint" type="fixed">
    <origin xyz="0.03 0.1 0.1"/>
    <parent link="head"/>
    <child link="left_camera_frame"/>
  </joint>
  <link name="left_camera_frame">
    <inertial>
      <mass value="0.1"/>
      <origin xyz="0 0 0"/>
      <inertia ixx="0.001" ixy="0.0" ixz="0.0" iyy="0.001" iyz="0.0" izz="0.001"/>
    </inertial>
  </link>
  <joint name="left_camera_optical_frame_joint" type="fixed">
    <origin rpy="-1.5708 0.0 -1.5708" xyz="0 0 0"/>
    <parent link="left_camera_frame"/>
    <child link="left_camera_optical_frame"/>
  </joint>
  <link name="left_camera_optical_frame"/>
  <gazebo reference="left_camera_frame">
    <sensor name="left_camera_sensor" type="camera">
      <update_rate>25.0</update_rate>
      <camera>
        <horizontal_fov>1.5708</horizontal_fov>
        <image>
          <width>320</width>
          <height>240</height>
          <format>R8G8B8</format>
        </image>
        <clip>
          <near>0.01</near>
          <far>100</far>
        </clip>
      </camera>
      <plugin filename="libgazebo_ros_camera.so" name="left_camera_controller">
        <alwaysOn>true</alwaysOn>
        <updateRate>25.0</updateRate>
        <cameraName>multisense_sl/left</cameraName>
        <imageTopicName>image_raw</imageTopicName>
        <cameraInfoTopicName>camera_info</cameraInfoTopicName>
        <frameName>left_camera_optical_frame</frameName>
        <hackBaseline>0.0</hackBaseline>
        <distortionK1>0.0</distortionK1>
        <distortionK2>0.0</distortionK2>
        <distortionK3>0.0</distortionK3>
        <distortionT1>0.0</distortionT1>
        <distortionT2>0.0</distortionT2>
      </plugin>
    </sensor>
  </gazebo>
  <joint name="right_camera_frame_joint" type="fixed">
    <origin xyz="0.03 -0.1 0.1"/>
    <parent link="head"/>
    <child link="right_camera_frame"/>
  </joint>
  <link name="right_camera_frame">
    <inertial>
      <mass value="0.1"/>
      <origin xyz="0 0 0"/>
      <inertia ixx="0.001" ixy="0.0" ixz="0.0" iyy="0.001" iyz="0.0" izz="0.001"/>
    </inertial>
  </link>
  <joint name="right_camera_optical_frame_joint" type="fixed">
    <origin rpy="-1.5708 0.0 -1.5708" xyz="0 0 0"/>
    <parent link="right_camera_frame"/>
    <child link="right_camera_optical_frame"/>
  </joint>
  <link name="right_camera_optical_frame"/>
  <gazebo reference="right_camera_frame">
    <sensor name="right_camera_sensor" type="camera">
      <update_rate>25.0</update_rate>
      <camera>
        <horizontal_fov>1.5708</horizontal_fov>
        <image>
          <width>320</width>
          <height>240</height>
          <format>R8G8B8</format>
        </image>
        <clip>
          <near>0.01</near>
          <far>100</far>
        </clip>
      </camera>
      <plugin filename="libgazebo_ros_camera.so" name="right_camera_controller">
        <alwaysOn>true</alwaysOn>
        <updateRate>25.0</updateRate>
        <cameraName>multisense_sl/right</cameraName>
        <imageTopicName>image_raw</imageTopicName>
        <cameraInfoTopicName>camera_info</cameraInfoTopicName>
        <frameName>left_camera_optical_frame</frameName>
        <hackBaseline>0.2</hackBaseline>
        <!-- check this -->
        <distortionK1>0.0</distortionK1>
        <distortionK2>0.0</distortionK2>
        <distortionK3>0.0</distortionK3>
        <distortionT1>0.0</distortionT1>
        <distortionT2>0.0</distortionT2>
      </plugin>
    </sensor>
  </gazebo>


  <!-- joint to irobot hand -->
  <joint name="irobot_hand_joint" type="fixed">
    <origin rpy="-1.57079 0 0" xyz="0 0.05 0"/>
    <parent link="l_hand"/>
    <child link="base_link"/>
  </joint>

  <!-- irobot hand -->
  <link name="finger[0]/flexible_link_1">
    <inertial>
      <mass value="0.1"/>
      <origin xyz="0 0 0"/>
      <inertia ixx="0.001" ixy="0.0" ixz="0.0" iyy="0.001" iyz="0.0" izz="0.001"/>
    </inertial>
    <collision>
      <geometry>
        <box size=".014 0.00176 .006"/>
      </geometry>
      <origin rpy="1.57 0 0" xyz="0 0 0"/>
    </collision>
    <visual>
      <geometry>
        <box size=".014 0.00176 .006"/>
      </geometry>
      <origin rpy="1.57 0 0" xyz="0 0 0"/>
      <material name="darkgray">
        <color rgba="0.2 0.2 0.2 1"/>
      </material>
    </visual>
  </link>
  <link name="finger[0]/flexible_link_2">
    <inertial>
      <mass value="0.1"/>
      <origin xyz="0 0 0"/>
      <inertia ixx="0.001" ixy="0.0" ixz="0.0" iyy="0.001" iyz="0.0" izz="0.001"/>
    </inertial>
    <collision>
      <geometry>
        <box size=".014 0.00176 .006"/>
      </geometry>
      <origin rpy="1.57 0 0" xyz="0 0 0"/>
    </collision>
    <visual>
      <geometry>
        <box size=".014 0.00176 .006"/>
      </geometry>
      <origin rpy="1.57 0 0" xyz="0 0 0"/>
      <material name="darkgray">
        <color rgba="0.2 0.2 0.2 1"/>
      </material>
    </visual>
  </link>
  <link name="finger[0]/flexible_link_3">
    <inertial>
      <mass value="0.1"/>
      <origin xyz="0 0 0"/>
      <inertia ixx="0.001" ixy="0.0" ixz="0.0" iyy="0.001" iyz="0.0" izz="0.001"/>
    </inertial>
    <collision>
      <geometry>
        <box size=".014 0.00176 .006"/>
      </geometry>
      <origin rpy="1.57 0 0" xyz="0 0 0"/>
    </collision>
    <visual>
      <geometry>
        <box size=".014 0.00176 .006"/>
      </geometry>
      <origin rpy="1.57 0 0" xyz="0 0 0"/>
      <material name="darkgray">
        <color rgba="0.2 0.2 0.2 1"/>
      </material>
    </visual>
  </link>
  <link name="finger[0]/flexible_link_4">
    <inertial>
      <mass value="0.1"/>
      <origin xyz="0 0 0"/>
      <inertia ixx="0.001" ixy="0.0" ixz="0.0" iyy="0.001" iyz="0.0" izz="0.001"/>
    </inertial>
    <collision>
      <geometry>
        <box size=".014 0.00176 .006"/>
      </geometry>
      <origin rpy="1.57 0 0" xyz="0 0 0"/>
    </collision>
    <visual>
      <geometry>
        <box size=".014 0.00176 .006"/>
      </geometry>
      <origin rpy="1.57 0 0" xyz="0 0 0"/>
      <material name="darkgray">
        <color rgba="0.2 0.2 0.2 1"/>
      </material>
    </visual>
  </link>
  <link name="finger[0]/flexible_link_5">
    <inertial>
      <mass value="0.1"/>
      <origin xyz="0 0 0"/>
      <inertia ixx="0.001" ixy="0.0" ixz="0.0" iyy="0.001" iyz="0.0" izz="0.001"/>
    </inertial>
    <collision>
      <geometry>
        <box size=".014 0.00176 .006"/>
      </geometry>
      <origin rpy="1.57 0 0" xyz="0 0 0"/>
    </collision>
    <visual>
      <geometry>
        <box size=".014 0.00176 .006"/>
      </geometry>
      <origin rpy="1.57 0 0" xyz="0 0 0"/>
      <material name="darkgray">
        <color rgba="0.2 0.2 0.2 1"/>
      </material>
    </visual>
  </link>
  <link name="finger[0]/flexible_link_6">
    <inertial>
      <mass value="0.1"/>
      <origin xyz="0 0 0"/>
      <inertia ixx="0.001" ixy="0.0" ixz="0.0" iyy="0.001" iyz="0.0" izz="0.001"/>
    </inertial>
    <collision>
      <geometry>
        <box size=".014 0.00176 .006"/>
      </geometry>
      <origin rpy="1.57 0 0" xyz="0 0 0"/>
    </collision>
    <visual>
      <geometry>
        <box size=".014 0.00176 .006"/>
      </geometry>
      <origin rpy="1.57 0 0" xyz="0 0 0"/>
      <material name="darkgray">
        <color rgba="0.2 0.2 0.2 1"/>
      </material>
    </visual>
  </link>
  <link name="finger[0]/flexible_link_7">
    <inertial>
      <mass value="0.1"/>
      <origin xyz="0 0 0"/>
      <inertia ixx="0.001" ixy="0.0" ixz="0.0" iyy="0.001" iyz="0.0" izz="0.001"/>
    </inertial>
    <collision>
      <geometry>
        <box size=".014 0.00176 .006"/>
      </geometry>
      <origin rpy="1.57 0 0" xyz="0 0 0"/>
    </collision>
    <visual>
      <geometry>
        <box size=".014 0.00176 .006"/>
      </geometry>
      <origin rpy="1.57 0 0" xyz="0 0 0"/>
      <material name="darkgray">
        <color rgba="0.2 0.2 0.2 1"/>
      </material>
    </visual>
  </link>
  <link name="finger[0]/flexible_link_8">
    <inertial>
      <mass value="0.1"/>
      <origin xyz="0 0 0"/>
      <inertia ixx="0.001" ixy="0.0" ixz="0.0" iyy="0.001" iyz="0.0" izz="0.001"/>
    </inertial>
    <collision>
      <geometry>
        <box size=".014 0.00176 .006"/>
      </geometry>
      <origin rpy="1.57 0 0" xyz="0 0 0"/>
    </collision>
    <visual>
      <geometry>
        <box size=".014 0.00176 .006"/>
      </geometry>
      <origin rpy="1.57 0 0" xyz="0 0 0"/>
      <material name="darkgray">
        <color rgba="0.2 0.2 0.2 1"/>
      </material>
    </visual>
  </link>
  <link name="finger[0]/flexible_link_9">
    <inertial>
      <mass value="0.1"/>
      <origin xyz="0 0 0"/>
      <inertia ixx="0.001" ixy="0.0" ixz="0.0" iyy="0.001" iyz="0.0" izz="0.001"/>
    </inertial>
    <collision>
      <geometry>
        <box size=".014 0.00176 .006"/>
      </geometry>
      <origin rpy="1.57 0 0" xyz="0 0 0"/>
    </collision>
    <visual>
      <geometry>
        <box size=".014 0.00176 .006"/>
      </geometry>
      <origin rpy="1.57 0 0" xyz="0 0 0"/>
      <material name="darkgray">
        <color rgba="0.2 0.2 0.2 1"/>
      </material>
    </visual>
  </link>
  <joint name="finger[0]/flexible_joint_flex_from_1_to_2" type="revolute">
    <parent link="finger[0]/flexible_link_1"/>
    <child link="finger[0]/flexible_link_hidden_between_1_and_2"/>
    <origin xyz="0 0 0.00177777777778"/>
    <axis xyz="-1 0 0"/>
    <limit effort="1000.0" lower="0.0" upper="1.57" velocity="0.5"/>
  </joint>
  <link name="finger[0]/flexible_link_hidden_between_1_and_2">
    <inertial>
      <mass value="0.1"/>
      <origin xyz="0 0 0"/>
      <inertia ixx="0.001" ixy="0.0" ixz="0.0" iyy="0.001" iyz="0.0" izz="0.001"/>
    </inertial>
    <collision>
      <geometry>
        <box size="0 0 0"/>
      </geometry>
      <origin rpy="0 0 0" xyz="0 0 0"/>
    </collision>
    <visual>
      <geometry>
        <box size="0 0 0"/>
      </geometry>
      <origin rpy="0 0 0" xyz="0 0 0"/>
    </visual>
  </link>
  <joint name="finger[0]/flexible_joint_twist_from_1_to_2" type="revolute">
    <parent link="finger[0]/flexible_link_hidden_between_1_and_2"/>
    <child link="finger[0]/flexible_link_2"/>
    <origin xyz="0 0 0"/>
    <axis xyz="0 0 1"/>
    <limit effort="1000.0" lower="0.0" upper="1.57" velocity="0.5"/>
  </joint>
  <joint name="finger[0]/flexible_joint_flex_from_2_to_3" type="revolute">
    <parent link="finger[0]/flexible_link_2"/>
    <child link="finger[0]/flexible_link_hidden_between_2_and_3"/>
    <origin xyz="0 0 0.00177777777778"/>
    <axis xyz="-1 0 0"/>
    <limit effort="1000.0" lower="0.0" upper="1.57" velocity="0.5"/>
  </joint>
  <link name="finger[0]/flexible_link_hidden_between_2_and_3">
    <inertial>
      <mass value="0.1"/>
      <origin xyz="0 0 0"/>
      <inertia ixx="0.001" ixy="0.0" ixz="0.0" iyy="0.001" iyz="0.0" izz="0.001"/>
    </inertial>
    <collision>
      <geometry>
        <box size="0 0 0"/>
      </geometry>
      <origin rpy="0 0 0" xyz="0 0 0"/>
    </collision>
    <visual>
      <geometry>
        <box size="0 0 0"/>
      </geometry>
      <origin rpy="0 0 0" xyz="0 0 0"/>
    </visual>
  </link>
  <joint name="finger[0]/flexible_joint_twist_from_2_to_3" type="revolute">
    <parent link="finger[0]/flexible_link_hidden_between_2_and_3"/>
    <child link="finger[0]/flexible_link_3"/>
    <origin xyz="0 0 0"/>
    <axis xyz="0 0 1"/>
    <limit effort="1000.0" lower="0.0" upper="1.57" velocity="0.5"/>
  </joint>
  <joint name="finger[0]/flexible_joint_flex_from_3_to_4" type="revolute">
    <parent link="finger[0]/flexible_link_3"/>
    <child link="finger[0]/flexible_link_hidden_between_3_and_4"/>
    <origin xyz="0 0 0.00177777777778"/>
    <axis xyz="-1 0 0"/>
    <limit effort="1000.0" lower="0.0" upper="1.57" velocity="0.5"/>
  </joint>
  <link name="finger[0]/flexible_link_hidden_between_3_and_4">
    <inertial>
      <mass value="0.1"/>
      <origin xyz="0 0 0"/>
      <inertia ixx="0.001" ixy="0.0" ixz="0.0" iyy="0.001" iyz="0.0" izz="0.001"/>
    </inertial>
    <collision>
      <geometry>
        <box size="0 0 0"/>
      </geometry>
      <origin rpy="0 0 0" xyz="0 0 0"/>
    </collision>
    <visual>
      <geometry>
        <box size="0 0 0"/>
      </geometry>
      <origin rpy="0 0 0" xyz="0 0 0"/>
    </visual>
  </link>
  <joint name="finger[0]/flexible_joint_twist_from_3_to_4" type="revolute">
    <parent link="finger[0]/flexible_link_hidden_between_3_and_4"/>
    <child link="finger[0]/flexible_link_4"/>
    <origin xyz="0 0 0"/>
    <axis xyz="0 0 1"/>
    <limit effort="1000.0" lower="0.0" upper="1.57" velocity="0.5"/>
  </joint>
  <joint name="finger[0]/flexible_joint_flex_from_4_to_5" type="revolute">
    <parent link="finger[0]/flexible_link_4"/>
    <child link="finger[0]/flexible_link_hidden_between_4_and_5"/>
    <origin xyz="0 0 0.00177777777778"/>
    <axis xyz="-1 0 0"/>
    <limit effort="1000.0" lower="0.0" upper="1.57" velocity="0.5"/>
  </joint>
  <link name="finger[0]/flexible_link_hidden_between_4_and_5">
    <inertial>
      <mass value="0.1"/>
      <origin xyz="0 0 0"/>
      <inertia ixx="0.001" ixy="0.0" ixz="0.0" iyy="0.001" iyz="0.0" izz="0.001"/>
    </inertial>
    <collision>
      <geometry>
        <box size="0 0 0"/>
      </geometry>
      <origin rpy="0 0 0" xyz="0 0 0"/>
    </collision>
    <visual>
      <geometry>
        <box size="0 0 0"/>
      </geometry>
      <origin rpy="0 0 0" xyz="0 0 0"/>
    </visual>
  </link>
  <joint name="finger[0]/flexible_joint_twist_from_4_to_5" type="revolute">
    <parent link="finger[0]/flexible_link_hidden_between_4_and_5"/>
    <child link="finger[0]/flexible_link_5"/>
    <origin xyz="0 0 0"/>
    <axis xyz="0 0 1"/>
    <limit effort="1000.0" lower="0.0" upper="1.57" velocity="0.5"/>
  </joint>
  <joint name="finger[0]/flexible_joint_flex_from_5_to_6" type="revolute">
    <parent link="finger[0]/flexible_link_5"/>
    <child link="finger[0]/flexible_link_hidden_between_5_and_6"/>
    <origin xyz="0 0 0.00177777777778"/>
    <axis xyz="-1 0 0"/>
    <limit effort="1000.0" lower="0.0" upper="1.57" velocity="0.5"/>
  </joint>
  <link name="finger[0]/flexible_link_hidden_between_5_and_6">
    <inertial>
      <mass value="0.1"/>
      <origin xyz="0 0 0"/>
      <inertia ixx="0.001" ixy="0.0" ixz="0.0" iyy="0.001" iyz="0.0" izz="0.001"/>
    </inertial>
    <collision>
      <geometry>
        <box size="0 0 0"/>
      </geometry>
      <origin rpy="0 0 0" xyz="0 0 0"/>
    </collision>
    <visual>
      <geometry>
        <box size="0 0 0"/>
      </geometry>
      <origin rpy="0 0 0" xyz="0 0 0"/>
    </visual>
  </link>
  <joint name="finger[0]/flexible_joint_twist_from_5_to_6" type="revolute">
    <parent link="finger[0]/flexible_link_hidden_between_5_and_6"/>
    <child link="finger[0]/flexible_link_6"/>
    <origin xyz="0 0 0"/>
    <axis xyz="0 0 1"/>
    <limit effort="1000.0" lower="0.0" upper="1.57" velocity="0.5"/>
  </joint>
  <joint name="finger[0]/flexible_joint_flex_from_6_to_7" type="revolute">
    <parent link="finger[0]/flexible_link_6"/>
    <child link="finger[0]/flexible_link_hidden_between_6_and_7"/>
    <origin xyz="0 0 0.00177777777778"/>
    <axis xyz="-1 0 0"/>
    <limit effort="1000.0" lower="0.0" upper="1.57" velocity="0.5"/>
  </joint>
  <link name="finger[0]/flexible_link_hidden_between_6_and_7">
    <inertial>
      <mass value="0.1"/>
      <origin xyz="0 0 0"/>
      <inertia ixx="0.001" ixy="0.0" ixz="0.0" iyy="0.001" iyz="0.0" izz="0.001"/>
    </inertial>
    <collision>
      <geometry>
        <box size="0 0 0"/>
      </geometry>
      <origin rpy="0 0 0" xyz="0 0 0"/>
    </collision>
    <visual>
      <geometry>
        <box size="0 0 0"/>
      </geometry>
      <origin rpy="0 0 0" xyz="0 0 0"/>
    </visual>
  </link>
  <joint name="finger[0]/flexible_joint_twist_from_6_to_7" type="revolute">
    <parent link="finger[0]/flexible_link_hidden_between_6_and_7"/>
    <child link="finger[0]/flexible_link_7"/>
    <origin xyz="0 0 0"/>
    <axis xyz="0 0 1"/>
    <limit effort="1000.0" lower="0.0" upper="1.57" velocity="0.5"/>
  </joint>
  <joint name="finger[0]/flexible_joint_flex_from_7_to_8" type="revolute">
    <parent link="finger[0]/flexible_link_7"/>
    <child link="finger[0]/flexible_link_hidden_between_7_and_8"/>
    <origin xyz="0 0 0.00177777777778"/>
    <axis xyz="-1 0 0"/>
    <limit effort="1000.0" lower="0.0" upper="1.57" velocity="0.5"/>
  </joint>
  <link name="finger[0]/flexible_link_hidden_between_7_and_8">
    <inertial>
      <mass value="0.1"/>
      <origin xyz="0 0 0"/>
      <inertia ixx="0.001" ixy="0.0" ixz="0.0" iyy="0.001" iyz="0.0" izz="0.001"/>
    </inertial>
    <collision>
      <geometry>
        <box size="0 0 0"/>
      </geometry>
      <origin rpy="0 0 0" xyz="0 0 0"/>
    </collision>
    <visual>
      <geometry>
        <box size="0 0 0"/>
      </geometry>
      <origin rpy="0 0 0" xyz="0 0 0"/>
    </visual>
  </link>
  <joint name="finger[0]/flexible_joint_twist_from_7_to_8" type="revolute">
    <parent link="finger[0]/flexible_link_hidden_between_7_and_8"/>
    <child link="finger[0]/flexible_link_8"/>
    <origin xyz="0 0 0"/>
    <axis xyz="0 0 1"/>
    <limit effort="1000.0" lower="0.0" upper="1.57" velocity="0.5"/>
  </joint>
  <joint name="finger[0]/flexible_joint_flex_from_8_to_9" type="revolute">
    <parent link="finger[0]/flexible_link_8"/>
    <child link="finger[0]/flexible_link_hidden_between_8_and_9"/>
    <origin xyz="0 0 0.00177777777778"/>
    <axis xyz="-1 0 0"/>
    <limit effort="1000.0" lower="0.0" upper="1.57" velocity="0.5"/>
  </joint>
  <link name="finger[0]/flexible_link_hidden_between_8_and_9">
    <inertial>
      <mass value="0.1"/>
      <origin xyz="0 0 0"/>
      <inertia ixx="0.001" ixy="0.0" ixz="0.0" iyy="0.001" iyz="0.0" izz="0.001"/>
    </inertial>
    <collision>
      <geometry>
        <box size="0 0 0"/>
      </geometry>
      <origin rpy="0 0 0" xyz="0 0 0"/>
    </collision>
    <visual>
      <geometry>
        <box size="0 0 0"/>
      </geometry>
      <origin rpy="0 0 0" xyz="0 0 0"/>
    </visual>
  </link>
  <joint name="finger[0]/flexible_joint_twist_from_8_to_9" type="revolute">
    <parent link="finger[0]/flexible_link_hidden_between_8_and_9"/>
    <child link="finger[0]/flexible_link_9"/>
    <origin xyz="0 0 0"/>
    <axis xyz="0 0 1"/>
    <limit effort="1000.0" lower="0.0" upper="1.57" velocity="0.5"/>
  </joint>
  <joint name="finger[0]/flexible_joint_flex_from_proximal_to_1" type="revolute">
    <parent link="finger[0]/proximal_link"/>
    <child link="finger[0]/flexible_link_hidden_between_proximal_link_and_1"/>
    <origin xyz="0 0 0.062"/>
    <axis xyz="-1 0 0"/>
    <limit effort="1000.0" lower="0.0" upper="1.57" velocity="0.5"/>
  </joint>
  <link name="finger[0]/flexible_link_hidden_between_proximal_link_and_1">
    <inertial>
      <mass value="0.1"/>
      <origin xyz="0 0 0"/>
      <inertia ixx="0.001" ixy="0.0" ixz="0.0" iyy="0.001" iyz="0.0" izz="0.001"/>
    </inertial>
    <collision>
      <geometry>
        <box size="0 0 0"/>
      </geometry>
      <origin rpy="0 0 0" xyz="0 0 0"/>
    </collision>
    <visual>
      <geometry>
        <box size="0 0 0"/>
      </geometry>
      <origin rpy="0 0 0" xyz="0 0 0"/>
    </visual>
  </link>
  <joint name="finger[0]/flexible_joint_twist_from_proximal_to_1" type="revolute">
    <parent link="finger[0]/flexible_link_hidden_between_proximal_link_and_1"/>
    <child link="finger[0]/flexible_link_1"/>
    <origin xyz="0 0 0"/>
    <axis xyz="0 0 1"/>
    <limit effort="1000.0" lower="0.0" upper="1.57" velocity="0.5"/>
  </joint>
  <joint name="finger[0]/flexible_joint_flex_from_9_to_distal" type="revolute">
    <parent link="finger[0]/flexible_link_9"/>
    <child link="finger[0]/flexible_link_hidden_between_9_and_distal_link"/>
    <origin xyz="0 0 0.00177777777778"/>
    <axis xyz="-1 0 0"/>
    <limit effort="1000.0" lower="0.0" upper="1.57" velocity="0.5"/>
  </joint>
  <link name="finger[0]/flexible_link_hidden_between_9_and_distal_link">
    <inertial>
      <mass value="0.1"/>
      <origin xyz="0 0 0"/>
      <inertia ixx="0.001" ixy="0.0" ixz="0.0" iyy="0.001" iyz="0.0" izz="0.001"/>
    </inertial>
    <collision>
      <geometry>
        <box size="0 0 0"/>
      </geometry>
      <origin rpy="0 0 0" xyz="0 0 0"/>
    </collision>
    <visual>
      <geometry>
        <box size="0 0 0"/>
      </geometry>
      <origin rpy="0 0 0" xyz="0 0 0"/>
    </visual>
  </link>
  <joint name="finger[0]/flexible_joint_twist_from_9_to_distal" type="revolute">
    <parent link="finger[0]/flexible_link_hidden_between_9_and_distal_link"/>
    <child link="finger[0]/distal_link"/>
    <origin xyz="0 0 0"/>
    <axis xyz="0 0 1"/>
    <limit effort="1000.0" lower="0.0" upper="1.57" velocity="0.5"/>
  </joint>
  <link name="finger[1]/flexible_link_1">
    <inertial>
      <mass value="0.1"/>
      <origin xyz="0 0 0"/>
      <inertia ixx="0.001" ixy="0.0" ixz="0.0" iyy="0.001" iyz="0.0" izz="0.001"/>
    </inertial>
    <collision>
      <geometry>
        <box size=".014 0.00176 .006"/>
      </geometry>
      <origin rpy="1.57 0 0" xyz="0 0 0"/>
    </collision>
    <visual>
      <geometry>
        <box size=".014 0.00176 .006"/>
      </geometry>
      <origin rpy="1.57 0 0" xyz="0 0 0"/>
      <material name="darkgray">
        <color rgba="0.2 0.2 0.2 1"/>
      </material>
    </visual>
  </link>
  <link name="finger[1]/flexible_link_2">
    <inertial>
      <mass value="0.1"/>
      <origin xyz="0 0 0"/>
      <inertia ixx="0.001" ixy="0.0" ixz="0.0" iyy="0.001" iyz="0.0" izz="0.001"/>
    </inertial>
    <collision>
      <geometry>
        <box size=".014 0.00176 .006"/>
      </geometry>
      <origin rpy="1.57 0 0" xyz="0 0 0"/>
    </collision>
    <visual>
      <geometry>
        <box size=".014 0.00176 .006"/>
      </geometry>
      <origin rpy="1.57 0 0" xyz="0 0 0"/>
      <material name="darkgray">
        <color rgba="0.2 0.2 0.2 1"/>
      </material>
    </visual>
  </link>
  <link name="finger[1]/flexible_link_3">
    <inertial>
      <mass value="0.1"/>
      <origin xyz="0 0 0"/>
      <inertia ixx="0.001" ixy="0.0" ixz="0.0" iyy="0.001" iyz="0.0" izz="0.001"/>
    </inertial>
    <collision>
      <geometry>
        <box size=".014 0.00176 .006"/>
      </geometry>
      <origin rpy="1.57 0 0" xyz="0 0 0"/>
    </collision>
    <visual>
      <geometry>
        <box size=".014 0.00176 .006"/>
      </geometry>
      <origin rpy="1.57 0 0" xyz="0 0 0"/>
      <material name="darkgray">
        <color rgba="0.2 0.2 0.2 1"/>
      </material>
    </visual>
  </link>
  <link name="finger[1]/flexible_link_4">
    <inertial>
      <mass value="0.1"/>
      <origin xyz="0 0 0"/>
      <inertia ixx="0.001" ixy="0.0" ixz="0.0" iyy="0.001" iyz="0.0" izz="0.001"/>
    </inertial>
    <collision>
      <geometry>
        <box size=".014 0.00176 .006"/>
      </geometry>
      <origin rpy="1.57 0 0" xyz="0 0 0"/>
    </collision>
    <visual>
      <geometry>
        <box size=".014 0.00176 .006"/>
      </geometry>
      <origin rpy="1.57 0 0" xyz="0 0 0"/>
      <material name="darkgray">
        <color rgba="0.2 0.2 0.2 1"/>
      </material>
    </visual>
  </link>
  <link name="finger[1]/flexible_link_5">
    <inertial>
      <mass value="0.1"/>
      <origin xyz="0 0 0"/>
      <inertia ixx="0.001" ixy="0.0" ixz="0.0" iyy="0.001" iyz="0.0" izz="0.001"/>
    </inertial>
    <collision>
      <geometry>
        <box size=".014 0.00176 .006"/>
      </geometry>
      <origin rpy="1.57 0 0" xyz="0 0 0"/>
    </collision>
    <visual>
      <geometry>
        <box size=".014 0.00176 .006"/>
      </geometry>
      <origin rpy="1.57 0 0" xyz="0 0 0"/>
      <material name="darkgray">
        <color rgba="0.2 0.2 0.2 1"/>
      </material>
    </visual>
  </link>
  <link name="finger[1]/flexible_link_6">
    <inertial>
      <mass value="0.1"/>
      <origin xyz="0 0 0"/>
      <inertia ixx="0.001" ixy="0.0" ixz="0.0" iyy="0.001" iyz="0.0" izz="0.001"/>
    </inertial>
    <collision>
      <geometry>
        <box size=".014 0.00176 .006"/>
      </geometry>
      <origin rpy="1.57 0 0" xyz="0 0 0"/>
    </collision>
    <visual>
      <geometry>
        <box size=".014 0.00176 .006"/>
      </geometry>
      <origin rpy="1.57 0 0" xyz="0 0 0"/>
      <material name="darkgray">
        <color rgba="0.2 0.2 0.2 1"/>
      </material>
    </visual>
  </link>
  <link name="finger[1]/flexible_link_7">
    <inertial>
      <mass value="0.1"/>
      <origin xyz="0 0 0"/>
      <inertia ixx="0.001" ixy="0.0" ixz="0.0" iyy="0.001" iyz="0.0" izz="0.001"/>
    </inertial>
    <collision>
      <geometry>
        <box size=".014 0.00176 .006"/>
      </geometry>
      <origin rpy="1.57 0 0" xyz="0 0 0"/>
    </collision>
    <visual>
      <geometry>
        <box size=".014 0.00176 .006"/>
      </geometry>
      <origin rpy="1.57 0 0" xyz="0 0 0"/>
      <material name="darkgray">
        <color rgba="0.2 0.2 0.2 1"/>
      </material>
    </visual>
  </link>
  <link name="finger[1]/flexible_link_8">
    <inertial>
      <mass value="0.1"/>
      <origin xyz="0 0 0"/>
      <inertia ixx="0.001" ixy="0.0" ixz="0.0" iyy="0.001" iyz="0.0" izz="0.001"/>
    </inertial>
    <collision>
      <geometry>
        <box size=".014 0.00176 .006"/>
      </geometry>
      <origin rpy="1.57 0 0" xyz="0 0 0"/>
    </collision>
    <visual>
      <geometry>
        <box size=".014 0.00176 .006"/>
      </geometry>
      <origin rpy="1.57 0 0" xyz="0 0 0"/>
      <material name="darkgray">
        <color rgba="0.2 0.2 0.2 1"/>
      </material>
    </visual>
  </link>
  <link name="finger[1]/flexible_link_9">
    <inertial>
      <mass value="0.1"/>
      <origin xyz="0 0 0"/>
      <inertia ixx="0.001" ixy="0.0" ixz="0.0" iyy="0.001" iyz="0.0" izz="0.001"/>
    </inertial>
    <collision>
      <geometry>
        <box size=".014 0.00176 .006"/>
      </geometry>
      <origin rpy="1.57 0 0" xyz="0 0 0"/>
    </collision>
    <visual>
      <geometry>
        <box size=".014 0.00176 .006"/>
      </geometry>
      <origin rpy="1.57 0 0" xyz="0 0 0"/>
      <material name="darkgray">
        <color rgba="0.2 0.2 0.2 1"/>
      </material>
    </visual>
  </link>
  <joint name="finger[1]/flexible_joint_flex_from_1_to_2" type="revolute">
    <parent link="finger[1]/flexible_link_1"/>
    <child link="finger[1]/flexible_link_hidden_between_1_and_2"/>
    <origin xyz="0 0 0.00177777777778"/>
    <axis xyz="-1 0 0"/>
    <limit effort="1000.0" lower="0.0" upper="1.57" velocity="0.5"/>
  </joint>
  <link name="finger[1]/flexible_link_hidden_between_1_and_2">
    <inertial>
      <mass value="0.1"/>
      <origin xyz="0 0 0"/>
      <inertia ixx="0.001" ixy="0.0" ixz="0.0" iyy="0.001" iyz="0.0" izz="0.001"/>
    </inertial>
    <collision>
      <geometry>
        <box size="0 0 0"/>
      </geometry>
      <origin rpy="0 0 0" xyz="0 0 0"/>
    </collision>
    <visual>
      <geometry>
        <box size="0 0 0"/>
      </geometry>
      <origin rpy="0 0 0" xyz="0 0 0"/>
    </visual>
  </link>
  <joint name="finger[1]/flexible_joint_twist_from_1_to_2" type="revolute">
    <parent link="finger[1]/flexible_link_hidden_between_1_and_2"/>
    <child link="finger[1]/flexible_link_2"/>
    <origin xyz="0 0 0"/>
    <axis xyz="0 0 1"/>
    <limit effort="1000.0" lower="0.0" upper="1.57" velocity="0.5"/>
  </joint>
  <joint name="finger[1]/flexible_joint_flex_from_2_to_3" type="revolute">
    <parent link="finger[1]/flexible_link_2"/>
    <child link="finger[1]/flexible_link_hidden_between_2_and_3"/>
    <origin xyz="0 0 0.00177777777778"/>
    <axis xyz="-1 0 0"/>
    <limit effort="1000.0" lower="0.0" upper="1.57" velocity="0.5"/>
  </joint>
  <link name="finger[1]/flexible_link_hidden_between_2_and_3">
    <inertial>
      <mass value="0.1"/>
      <origin xyz="0 0 0"/>
      <inertia ixx="0.001" ixy="0.0" ixz="0.0" iyy="0.001" iyz="0.0" izz="0.001"/>
    </inertial>
    <collision>
      <geometry>
        <box size="0 0 0"/>
      </geometry>
      <origin rpy="0 0 0" xyz="0 0 0"/>
    </collision>
    <visual>
      <geometry>
        <box size="0 0 0"/>
      </geometry>
      <origin rpy="0 0 0" xyz="0 0 0"/>
    </visual>
  </link>
  <joint name="finger[1]/flexible_joint_twist_from_2_to_3" type="revolute">
    <parent link="finger[1]/flexible_link_hidden_between_2_and_3"/>
    <child link="finger[1]/flexible_link_3"/>
    <origin xyz="0 0 0"/>
    <axis xyz="0 0 1"/>
    <limit effort="1000.0" lower="0.0" upper="1.57" velocity="0.5"/>
  </joint>
  <joint name="finger[1]/flexible_joint_flex_from_3_to_4" type="revolute">
    <parent link="finger[1]/flexible_link_3"/>
    <child link="finger[1]/flexible_link_hidden_between_3_and_4"/>
    <origin xyz="0 0 0.00177777777778"/>
    <axis xyz="-1 0 0"/>
    <limit effort="1000.0" lower="0.0" upper="1.57" velocity="0.5"/>
  </joint>
  <link name="finger[1]/flexible_link_hidden_between_3_and_4">
    <inertial>
      <mass value="0.1"/>
      <origin xyz="0 0 0"/>
      <inertia ixx="0.001" ixy="0.0" ixz="0.0" iyy="0.001" iyz="0.0" izz="0.001"/>
    </inertial>
    <collision>
      <geometry>
        <box size="0 0 0"/>
      </geometry>
      <origin rpy="0 0 0" xyz="0 0 0"/>
    </collision>
    <visual>
      <geometry>
        <box size="0 0 0"/>
      </geometry>
      <origin rpy="0 0 0" xyz="0 0 0"/>
    </visual>
  </link>
  <joint name="finger[1]/flexible_joint_twist_from_3_to_4" type="revolute">
    <parent link="finger[1]/flexible_link_hidden_between_3_and_4"/>
    <child link="finger[1]/flexible_link_4"/>
    <origin xyz="0 0 0"/>
    <axis xyz="0 0 1"/>
    <limit effort="1000.0" lower="0.0" upper="1.57" velocity="0.5"/>
  </joint>
  <joint name="finger[1]/flexible_joint_flex_from_4_to_5" type="revolute">
    <parent link="finger[1]/flexible_link_4"/>
    <child link="finger[1]/flexible_link_hidden_between_4_and_5"/>
    <origin xyz="0 0 0.00177777777778"/>
    <axis xyz="-1 0 0"/>
    <limit effort="1000.0" lower="0.0" upper="1.57" velocity="0.5"/>
  </joint>
  <link name="finger[1]/flexible_link_hidden_between_4_and_5">
    <inertial>
      <mass value="0.1"/>
      <origin xyz="0 0 0"/>
      <inertia ixx="0.001" ixy="0.0" ixz="0.0" iyy="0.001" iyz="0.0" izz="0.001"/>
    </inertial>
    <collision>
      <geometry>
        <box size="0 0 0"/>
      </geometry>
      <origin rpy="0 0 0" xyz="0 0 0"/>
    </collision>
    <visual>
      <geometry>
        <box size="0 0 0"/>
      </geometry>
      <origin rpy="0 0 0" xyz="0 0 0"/>
    </visual>
  </link>
  <joint name="finger[1]/flexible_joint_twist_from_4_to_5" type="revolute">
    <parent link="finger[1]/flexible_link_hidden_between_4_and_5"/>
    <child link="finger[1]/flexible_link_5"/>
    <origin xyz="0 0 0"/>
    <axis xyz="0 0 1"/>
    <limit effort="1000.0" lower="0.0" upper="1.57" velocity="0.5"/>
  </joint>
  <joint name="finger[1]/flexible_joint_flex_from_5_to_6" type="revolute">
    <parent link="finger[1]/flexible_link_5"/>
    <child link="finger[1]/flexible_link_hidden_between_5_and_6"/>
    <origin xyz="0 0 0.00177777777778"/>
    <axis xyz="-1 0 0"/>
    <limit effort="1000.0" lower="0.0" upper="1.57" velocity="0.5"/>
  </joint>
  <link name="finger[1]/flexible_link_hidden_between_5_and_6">
    <inertial>
      <mass value="0.1"/>
      <origin xyz="0 0 0"/>
      <inertia ixx="0.001" ixy="0.0" ixz="0.0" iyy="0.001" iyz="0.0" izz="0.001"/>
    </inertial>
    <collision>
      <geometry>
        <box size="0 0 0"/>
      </geometry>
      <origin rpy="0 0 0" xyz="0 0 0"/>
    </collision>
    <visual>
      <geometry>
        <box size="0 0 0"/>
      </geometry>
      <origin rpy="0 0 0" xyz="0 0 0"/>
    </visual>
  </link>
  <joint name="finger[1]/flexible_joint_twist_from_5_to_6" type="revolute">
    <parent link="finger[1]/flexible_link_hidden_between_5_and_6"/>
    <child link="finger[1]/flexible_link_6"/>
    <origin xyz="0 0 0"/>
    <axis xyz="0 0 1"/>
    <limit effort="1000.0" lower="0.0" upper="1.57" velocity="0.5"/>
  </joint>
  <joint name="finger[1]/flexible_joint_flex_from_6_to_7" type="revolute">
    <parent link="finger[1]/flexible_link_6"/>
    <child link="finger[1]/flexible_link_hidden_between_6_and_7"/>
    <origin xyz="0 0 0.00177777777778"/>
    <axis xyz="-1 0 0"/>
    <limit effort="1000.0" lower="0.0" upper="1.57" velocity="0.5"/>
  </joint>
  <link name="finger[1]/flexible_link_hidden_between_6_and_7">
    <inertial>
      <mass value="0.1"/>
      <origin xyz="0 0 0"/>
      <inertia ixx="0.001" ixy="0.0" ixz="0.0" iyy="0.001" iyz="0.0" izz="0.001"/>
    </inertial>
    <collision>
      <geometry>
        <box size="0 0 0"/>
      </geometry>
      <origin rpy="0 0 0" xyz="0 0 0"/>
    </collision>
    <visual>
      <geometry>
        <box size="0 0 0"/>
      </geometry>
      <origin rpy="0 0 0" xyz="0 0 0"/>
    </visual>
  </link>
  <joint name="finger[1]/flexible_joint_twist_from_6_to_7" type="revolute">
    <parent link="finger[1]/flexible_link_hidden_between_6_and_7"/>
    <child link="finger[1]/flexible_link_7"/>
    <origin xyz="0 0 0"/>
    <axis xyz="0 0 1"/>
    <limit effort="1000.0" lower="0.0" upper="1.57" velocity="0.5"/>
  </joint>
  <joint name="finger[1]/flexible_joint_flex_from_7_to_8" type="revolute">
    <parent link="finger[1]/flexible_link_7"/>
    <child link="finger[1]/flexible_link_hidden_between_7_and_8"/>
    <origin xyz="0 0 0.00177777777778"/>
    <axis xyz="-1 0 0"/>
    <limit effort="1000.0" lower="0.0" upper="1.57" velocity="0.5"/>
  </joint>
  <link name="finger[1]/flexible_link_hidden_between_7_and_8">
    <inertial>
      <mass value="0.1"/>
      <origin xyz="0 0 0"/>
      <inertia ixx="0.001" ixy="0.0" ixz="0.0" iyy="0.001" iyz="0.0" izz="0.001"/>
    </inertial>
    <collision>
      <geometry>
        <box size="0 0 0"/>
      </geometry>
      <origin rpy="0 0 0" xyz="0 0 0"/>
    </collision>
    <visual>
      <geometry>
        <box size="0 0 0"/>
      </geometry>
      <origin rpy="0 0 0" xyz="0 0 0"/>
    </visual>
  </link>
  <joint name="finger[1]/flexible_joint_twist_from_7_to_8" type="revolute">
    <parent link="finger[1]/flexible_link_hidden_between_7_and_8"/>
    <child link="finger[1]/flexible_link_8"/>
    <origin xyz="0 0 0"/>
    <axis xyz="0 0 1"/>
    <limit effort="1000.0" lower="0.0" upper="1.57" velocity="0.5"/>
  </joint>
  <joint name="finger[1]/flexible_joint_flex_from_8_to_9" type="revolute">
    <parent link="finger[1]/flexible_link_8"/>
    <child link="finger[1]/flexible_link_hidden_between_8_and_9"/>
    <origin xyz="0 0 0.00177777777778"/>
    <axis xyz="-1 0 0"/>
    <limit effort="1000.0" lower="0.0" upper="1.57" velocity="0.5"/>
  </joint>
  <link name="finger[1]/flexible_link_hidden_between_8_and_9">
    <inertial>
      <mass value="0.1"/>
      <origin xyz="0 0 0"/>
      <inertia ixx="0.001" ixy="0.0" ixz="0.0" iyy="0.001" iyz="0.0" izz="0.001"/>
    </inertial>
    <collision>
      <geometry>
        <box size="0 0 0"/>
      </geometry>
      <origin rpy="0 0 0" xyz="0 0 0"/>
    </collision>
    <visual>
      <geometry>
        <box size="0 0 0"/>
      </geometry>
      <origin rpy="0 0 0" xyz="0 0 0"/>
    </visual>
  </link>
  <joint name="finger[1]/flexible_joint_twist_from_8_to_9" type="revolute">
    <parent link="finger[1]/flexible_link_hidden_between_8_and_9"/>
    <child link="finger[1]/flexible_link_9"/>
    <origin xyz="0 0 0"/>
    <axis xyz="0 0 1"/>
    <limit effort="1000.0" lower="0.0" upper="1.57" velocity="0.5"/>
  </joint>
  <joint name="finger[1]/flexible_joint_flex_from_proximal_to_1" type="revolute">
    <parent link="finger[1]/proximal_link"/>
    <child link="finger[1]/flexible_link_hidden_between_proximal_link_and_1"/>
    <origin xyz="0 0 0.062"/>
    <axis xyz="-1 0 0"/>
    <limit effort="1000.0" lower="0.0" upper="1.57" velocity="0.5"/>
  </joint>
  <link name="finger[1]/flexible_link_hidden_between_proximal_link_and_1">
    <inertial>
      <mass value="0.1"/>
      <origin xyz="0 0 0"/>
      <inertia ixx="0.001" ixy="0.0" ixz="0.0" iyy="0.001" iyz="0.0" izz="0.001"/>
    </inertial>
    <collision>
      <geometry>
        <box size="0 0 0"/>
      </geometry>
      <origin rpy="0 0 0" xyz="0 0 0"/>
    </collision>
    <visual>
      <geometry>
        <box size="0 0 0"/>
      </geometry>
      <origin rpy="0 0 0" xyz="0 0 0"/>
    </visual>
  </link>
  <joint name="finger[1]/flexible_joint_twist_from_proximal_to_1" type="revolute">
    <parent link="finger[1]/flexible_link_hidden_between_proximal_link_and_1"/>
    <child link="finger[1]/flexible_link_1"/>
    <origin xyz="0 0 0"/>
    <axis xyz="0 0 1"/>
    <limit effort="1000.0" lower="0.0" upper="1.57" velocity="0.5"/>
  </joint>
  <joint name="finger[1]/flexible_joint_flex_from_9_to_distal" type="revolute">
    <parent link="finger[1]/flexible_link_9"/>
    <child link="finger[1]/flexible_link_hidden_between_9_and_distal_link"/>
    <origin xyz="0 0 0.00177777777778"/>
    <axis xyz="-1 0 0"/>
    <limit effort="1000.0" lower="0.0" upper="1.57" velocity="0.5"/>
  </joint>
  <link name="finger[1]/flexible_link_hidden_between_9_and_distal_link">
    <inertial>
      <mass value="0.1"/>
      <origin xyz="0 0 0"/>
      <inertia ixx="0.001" ixy="0.0" ixz="0.0" iyy="0.001" iyz="0.0" izz="0.001"/>
    </inertial>
    <collision>
      <geometry>
        <box size="0 0 0"/>
      </geometry>
      <origin rpy="0 0 0" xyz="0 0 0"/>
    </collision>
    <visual>
      <geometry>
        <box size="0 0 0"/>
      </geometry>
      <origin rpy="0 0 0" xyz="0 0 0"/>
    </visual>
  </link>
  <joint name="finger[1]/flexible_joint_twist_from_9_to_distal" type="revolute">
    <parent link="finger[1]/flexible_link_hidden_between_9_and_distal_link"/>
    <child link="finger[1]/distal_link"/>
    <origin xyz="0 0 0"/>
    <axis xyz="0 0 1"/>
    <limit effort="1000.0" lower="0.0" upper="1.57" velocity="0.5"/>
  </joint>
  <link name="finger[2]/flexible_link_1">
    <inertial>
      <mass value="0.1"/>
      <origin xyz="0 0 0"/>
      <inertia ixx="0.001" ixy="0.0" ixz="0.0" iyy="0.001" iyz="0.0" izz="0.001"/>
    </inertial>
    <collision>
      <geometry>
        <box size=".014 0.00176 .006"/>
      </geometry>
      <origin rpy="1.57 0 0" xyz="0 0 0"/>
    </collision>
    <visual>
      <geometry>
        <box size=".014 0.00176 .006"/>
      </geometry>
      <origin rpy="1.57 0 0" xyz="0 0 0"/>
      <material name="darkgray">
        <color rgba="0.2 0.2 0.2 1"/>
      </material>
    </visual>
  </link>
  <link name="finger[2]/flexible_link_2">
    <inertial>
      <mass value="0.1"/>
      <origin xyz="0 0 0"/>
      <inertia ixx="0.001" ixy="0.0" ixz="0.0" iyy="0.001" iyz="0.0" izz="0.001"/>
    </inertial>
    <collision>
      <geometry>
        <box size=".014 0.00176 .006"/>
      </geometry>
      <origin rpy="1.57 0 0" xyz="0 0 0"/>
    </collision>
    <visual>
      <geometry>
        <box size=".014 0.00176 .006"/>
      </geometry>
      <origin rpy="1.57 0 0" xyz="0 0 0"/>
      <material name="darkgray">
        <color rgba="0.2 0.2 0.2 1"/>
      </material>
    </visual>
  </link>
  <link name="finger[2]/flexible_link_3">
    <inertial>
      <mass value="0.1"/>
      <origin xyz="0 0 0"/>
      <inertia ixx="0.001" ixy="0.0" ixz="0.0" iyy="0.001" iyz="0.0" izz="0.001"/>
    </inertial>
    <collision>
      <geometry>
        <box size=".014 0.00176 .006"/>
      </geometry>
      <origin rpy="1.57 0 0" xyz="0 0 0"/>
    </collision>
    <visual>
      <geometry>
        <box size=".014 0.00176 .006"/>
      </geometry>
      <origin rpy="1.57 0 0" xyz="0 0 0"/>
      <material name="darkgray">
        <color rgba="0.2 0.2 0.2 1"/>
      </material>
    </visual>
  </link>
  <link name="finger[2]/flexible_link_4">
    <inertial>
      <mass value="0.1"/>
      <origin xyz="0 0 0"/>
      <inertia ixx="0.001" ixy="0.0" ixz="0.0" iyy="0.001" iyz="0.0" izz="0.001"/>
    </inertial>
    <collision>
      <geometry>
        <box size=".014 0.00176 .006"/>
      </geometry>
      <origin rpy="1.57 0 0" xyz="0 0 0"/>
    </collision>
    <visual>
      <geometry>
        <box size=".014 0.00176 .006"/>
      </geometry>
      <origin rpy="1.57 0 0" xyz="0 0 0"/>
      <material name="darkgray">
        <color rgba="0.2 0.2 0.2 1"/>
      </material>
    </visual>
  </link>
  <link name="finger[2]/flexible_link_5">
    <inertial>
      <mass value="0.1"/>
      <origin xyz="0 0 0"/>
      <inertia ixx="0.001" ixy="0.0" ixz="0.0" iyy="0.001" iyz="0.0" izz="0.001"/>
    </inertial>
    <collision>
      <geometry>
        <box size=".014 0.00176 .006"/>
      </geometry>
      <origin rpy="1.57 0 0" xyz="0 0 0"/>
    </collision>
    <visual>
      <geometry>
        <box size=".014 0.00176 .006"/>
      </geometry>
      <origin rpy="1.57 0 0" xyz="0 0 0"/>
      <material name="darkgray">
        <color rgba="0.2 0.2 0.2 1"/>
      </material>
    </visual>
  </link>
  <link name="finger[2]/flexible_link_6">
    <inertial>
      <mass value="0.1"/>
      <origin xyz="0 0 0"/>
      <inertia ixx="0.001" ixy="0.0" ixz="0.0" iyy="0.001" iyz="0.0" izz="0.001"/>
    </inertial>
    <collision>
      <geometry>
        <box size=".014 0.00176 .006"/>
      </geometry>
      <origin rpy="1.57 0 0" xyz="0 0 0"/>
    </collision>
    <visual>
      <geometry>
        <box size=".014 0.00176 .006"/>
      </geometry>
      <origin rpy="1.57 0 0" xyz="0 0 0"/>
      <material name="darkgray">
        <color rgba="0.2 0.2 0.2 1"/>
      </material>
    </visual>
  </link>
  <link name="finger[2]/flexible_link_7">
    <inertial>
      <mass value="0.1"/>
      <origin xyz="0 0 0"/>
      <inertia ixx="0.001" ixy="0.0" ixz="0.0" iyy="0.001" iyz="0.0" izz="0.001"/>
    </inertial>
    <collision>
      <geometry>
        <box size=".014 0.00176 .006"/>
      </geometry>
      <origin rpy="1.57 0 0" xyz="0 0 0"/>
    </collision>
    <visual>
      <geometry>
        <box size=".014 0.00176 .006"/>
      </geometry>
      <origin rpy="1.57 0 0" xyz="0 0 0"/>
      <material name="darkgray">
        <color rgba="0.2 0.2 0.2 1"/>
      </material>
    </visual>
  </link>
  <link name="finger[2]/flexible_link_8">
    <inertial>
      <mass value="0.1"/>
      <origin xyz="0 0 0"/>
      <inertia ixx="0.001" ixy="0.0" ixz="0.0" iyy="0.001" iyz="0.0" izz="0.001"/>
    </inertial>
    <collision>
      <geometry>
        <box size=".014 0.00176 .006"/>
      </geometry>
      <origin rpy="1.57 0 0" xyz="0 0 0"/>
    </collision>
    <visual>
      <geometry>
        <box size=".014 0.00176 .006"/>
      </geometry>
      <origin rpy="1.57 0 0" xyz="0 0 0"/>
      <material name="darkgray">
        <color rgba="0.2 0.2 0.2 1"/>
      </material>
    </visual>
  </link>
  <link name="finger[2]/flexible_link_9">
    <inertial>
      <mass value="0.1"/>
      <origin xyz="0 0 0"/>
      <inertia ixx="0.001" ixy="0.0" ixz="0.0" iyy="0.001" iyz="0.0" izz="0.001"/>
    </inertial>
    <collision>
      <geometry>
        <box size=".014 0.00176 .006"/>
      </geometry>
      <origin rpy="1.57 0 0" xyz="0 0 0"/>
    </collision>
    <visual>
      <geometry>
        <box size=".014 0.00176 .006"/>
      </geometry>
      <origin rpy="1.57 0 0" xyz="0 0 0"/>
      <material name="darkgray">
        <color rgba="0.2 0.2 0.2 1"/>
      </material>
    </visual>
  </link>
  <joint name="finger[2]/flexible_joint_flex_from_1_to_2" type="revolute">
    <parent link="finger[2]/flexible_link_1"/>
    <child link="finger[2]/flexible_link_hidden_between_1_and_2"/>
    <origin xyz="0 0 0.00177777777778"/>
    <axis xyz="-1 0 0"/>
    <limit effort="1000.0" lower="0.0" upper="1.57" velocity="0.5"/>
  </joint>
  <link name="finger[2]/flexible_link_hidden_between_1_and_2">
    <inertial>
      <mass value="0.1"/>
      <origin xyz="0 0 0"/>
      <inertia ixx="0.001" ixy="0.0" ixz="0.0" iyy="0.001" iyz="0.0" izz="0.001"/>
    </inertial>
    <collision>
      <geometry>
        <box size="0 0 0"/>
      </geometry>
      <origin rpy="0 0 0" xyz="0 0 0"/>
    </collision>
    <visual>
      <geometry>
        <box size="0 0 0"/>
      </geometry>
      <origin rpy="0 0 0" xyz="0 0 0"/>
    </visual>
  </link>
  <joint name="finger[2]/flexible_joint_twist_from_1_to_2" type="revolute">
    <parent link="finger[2]/flexible_link_hidden_between_1_and_2"/>
    <child link="finger[2]/flexible_link_2"/>
    <origin xyz="0 0 0"/>
    <axis xyz="0 0 1"/>
    <limit effort="1000.0" lower="0.0" upper="1.57" velocity="0.5"/>
  </joint>
  <joint name="finger[2]/flexible_joint_flex_from_2_to_3" type="revolute">
    <parent link="finger[2]/flexible_link_2"/>
    <child link="finger[2]/flexible_link_hidden_between_2_and_3"/>
    <origin xyz="0 0 0.00177777777778"/>
    <axis xyz="-1 0 0"/>
    <limit effort="1000.0" lower="0.0" upper="1.57" velocity="0.5"/>
  </joint>
  <link name="finger[2]/flexible_link_hidden_between_2_and_3">
    <inertial>
      <mass value="0.1"/>
      <origin xyz="0 0 0"/>
      <inertia ixx="0.001" ixy="0.0" ixz="0.0" iyy="0.001" iyz="0.0" izz="0.001"/>
    </inertial>
    <collision>
      <geometry>
        <box size="0 0 0"/>
      </geometry>
      <origin rpy="0 0 0" xyz="0 0 0"/>
    </collision>
    <visual>
      <geometry>
        <box size="0 0 0"/>
      </geometry>
      <origin rpy="0 0 0" xyz="0 0 0"/>
    </visual>
  </link>
  <joint name="finger[2]/flexible_joint_twist_from_2_to_3" type="revolute">
    <parent link="finger[2]/flexible_link_hidden_between_2_and_3"/>
    <child link="finger[2]/flexible_link_3"/>
    <origin xyz="0 0 0"/>
    <axis xyz="0 0 1"/>
    <limit effort="1000.0" lower="0.0" upper="1.57" velocity="0.5"/>
  </joint>
  <joint name="finger[2]/flexible_joint_flex_from_3_to_4" type="revolute">
    <parent link="finger[2]/flexible_link_3"/>
    <child link="finger[2]/flexible_link_hidden_between_3_and_4"/>
    <origin xyz="0 0 0.00177777777778"/>
    <axis xyz="-1 0 0"/>
    <limit effort="1000.0" lower="0.0" upper="1.57" velocity="0.5"/>
  </joint>
  <link name="finger[2]/flexible_link_hidden_between_3_and_4">
    <inertial>
      <mass value="0.1"/>
      <origin xyz="0 0 0"/>
      <inertia ixx="0.001" ixy="0.0" ixz="0.0" iyy="0.001" iyz="0.0" izz="0.001"/>
    </inertial>
    <collision>
      <geometry>
        <box size="0 0 0"/>
      </geometry>
      <origin rpy="0 0 0" xyz="0 0 0"/>
    </collision>
    <visual>
      <geometry>
        <box size="0 0 0"/>
      </geometry>
      <origin rpy="0 0 0" xyz="0 0 0"/>
    </visual>
  </link>
  <joint name="finger[2]/flexible_joint_twist_from_3_to_4" type="revolute">
    <parent link="finger[2]/flexible_link_hidden_between_3_and_4"/>
    <child link="finger[2]/flexible_link_4"/>
    <origin xyz="0 0 0"/>
    <axis xyz="0 0 1"/>
    <limit effort="1000.0" lower="0.0" upper="1.57" velocity="0.5"/>
  </joint>
  <joint name="finger[2]/flexible_joint_flex_from_4_to_5" type="revolute">
    <parent link="finger[2]/flexible_link_4"/>
    <child link="finger[2]/flexible_link_hidden_between_4_and_5"/>
    <origin xyz="0 0 0.00177777777778"/>
    <axis xyz="-1 0 0"/>
    <limit effort="1000.0" lower="0.0" upper="1.57" velocity="0.5"/>
  </joint>
  <link name="finger[2]/flexible_link_hidden_between_4_and_5">
    <inertial>
      <mass value="0.1"/>
      <origin xyz="0 0 0"/>
      <inertia ixx="0.001" ixy="0.0" ixz="0.0" iyy="0.001" iyz="0.0" izz="0.001"/>
    </inertial>
    <collision>
      <geometry>
        <box size="0 0 0"/>
      </geometry>
      <origin rpy="0 0 0" xyz="0 0 0"/>
    </collision>
    <visual>
      <geometry>
        <box size="0 0 0"/>
      </geometry>
      <origin rpy="0 0 0" xyz="0 0 0"/>
    </visual>
  </link>
  <joint name="finger[2]/flexible_joint_twist_from_4_to_5" type="revolute">
    <parent link="finger[2]/flexible_link_hidden_between_4_and_5"/>
    <child link="finger[2]/flexible_link_5"/>
    <origin xyz="0 0 0"/>
    <axis xyz="0 0 1"/>
    <limit effort="1000.0" lower="0.0" upper="1.57" velocity="0.5"/>
  </joint>
  <joint name="finger[2]/flexible_joint_flex_from_5_to_6" type="revolute">
    <parent link="finger[2]/flexible_link_5"/>
    <child link="finger[2]/flexible_link_hidden_between_5_and_6"/>
    <origin xyz="0 0 0.00177777777778"/>
    <axis xyz="-1 0 0"/>
    <limit effort="1000.0" lower="0.0" upper="1.57" velocity="0.5"/>
  </joint>
  <link name="finger[2]/flexible_link_hidden_between_5_and_6">
    <inertial>
      <mass value="0.1"/>
      <origin xyz="0 0 0"/>
      <inertia ixx="0.001" ixy="0.0" ixz="0.0" iyy="0.001" iyz="0.0" izz="0.001"/>
    </inertial>
    <collision>
      <geometry>
        <box size="0 0 0"/>
      </geometry>
      <origin rpy="0 0 0" xyz="0 0 0"/>
    </collision>
    <visual>
      <geometry>
        <box size="0 0 0"/>
      </geometry>
      <origin rpy="0 0 0" xyz="0 0 0"/>
    </visual>
  </link>
  <joint name="finger[2]/flexible_joint_twist_from_5_to_6" type="revolute">
    <parent link="finger[2]/flexible_link_hidden_between_5_and_6"/>
    <child link="finger[2]/flexible_link_6"/>
    <origin xyz="0 0 0"/>
    <axis xyz="0 0 1"/>
    <limit effort="1000.0" lower="0.0" upper="1.57" velocity="0.5"/>
  </joint>
  <joint name="finger[2]/flexible_joint_flex_from_6_to_7" type="revolute">
    <parent link="finger[2]/flexible_link_6"/>
    <child link="finger[2]/flexible_link_hidden_between_6_and_7"/>
    <origin xyz="0 0 0.00177777777778"/>
    <axis xyz="-1 0 0"/>
    <limit effort="1000.0" lower="0.0" upper="1.57" velocity="0.5"/>
  </joint>
  <link name="finger[2]/flexible_link_hidden_between_6_and_7">
    <inertial>
      <mass value="0.1"/>
      <origin xyz="0 0 0"/>
      <inertia ixx="0.001" ixy="0.0" ixz="0.0" iyy="0.001" iyz="0.0" izz="0.001"/>
    </inertial>
    <collision>
      <geometry>
        <box size="0 0 0"/>
      </geometry>
      <origin rpy="0 0 0" xyz="0 0 0"/>
    </collision>
    <visual>
      <geometry>
        <box size="0 0 0"/>
      </geometry>
      <origin rpy="0 0 0" xyz="0 0 0"/>
    </visual>
  </link>
  <joint name="finger[2]/flexible_joint_twist_from_6_to_7" type="revolute">
    <parent link="finger[2]/flexible_link_hidden_between_6_and_7"/>
    <child link="finger[2]/flexible_link_7"/>
    <origin xyz="0 0 0"/>
    <axis xyz="0 0 1"/>
    <limit effort="1000.0" lower="0.0" upper="1.57" velocity="0.5"/>
  </joint>
  <joint name="finger[2]/flexible_joint_flex_from_7_to_8" type="revolute">
    <parent link="finger[2]/flexible_link_7"/>
    <child link="finger[2]/flexible_link_hidden_between_7_and_8"/>
    <origin xyz="0 0 0.00177777777778"/>
    <axis xyz="-1 0 0"/>
    <limit effort="1000.0" lower="0.0" upper="1.57" velocity="0.5"/>
  </joint>
  <link name="finger[2]/flexible_link_hidden_between_7_and_8">
    <inertial>
      <mass value="0.1"/>
      <origin xyz="0 0 0"/>
      <inertia ixx="0.001" ixy="0.0" ixz="0.0" iyy="0.001" iyz="0.0" izz="0.001"/>
    </inertial>
    <collision>
      <geometry>
        <box size="0 0 0"/>
      </geometry>
      <origin rpy="0 0 0" xyz="0 0 0"/>
    </collision>
    <visual>
      <geometry>
        <box size="0 0 0"/>
      </geometry>
      <origin rpy="0 0 0" xyz="0 0 0"/>
    </visual>
  </link>
  <joint name="finger[2]/flexible_joint_twist_from_7_to_8" type="revolute">
    <parent link="finger[2]/flexible_link_hidden_between_7_and_8"/>
    <child link="finger[2]/flexible_link_8"/>
    <origin xyz="0 0 0"/>
    <axis xyz="0 0 1"/>
    <limit effort="1000.0" lower="0.0" upper="1.57" velocity="0.5"/>
  </joint>
  <joint name="finger[2]/flexible_joint_flex_from_8_to_9" type="revolute">
    <parent link="finger[2]/flexible_link_8"/>
    <child link="finger[2]/flexible_link_hidden_between_8_and_9"/>
    <origin xyz="0 0 0.00177777777778"/>
    <axis xyz="-1 0 0"/>
    <limit effort="1000.0" lower="0.0" upper="1.57" velocity="0.5"/>
  </joint>
  <link name="finger[2]/flexible_link_hidden_between_8_and_9">
    <inertial>
      <mass value="0.1"/>
      <origin xyz="0 0 0"/>
      <inertia ixx="0.001" ixy="0.0" ixz="0.0" iyy="0.001" iyz="0.0" izz="0.001"/>
    </inertial>
    <collision>
      <geometry>
        <box size="0 0 0"/>
      </geometry>
      <origin rpy="0 0 0" xyz="0 0 0"/>
    </collision>
    <visual>
      <geometry>
        <box size="0 0 0"/>
      </geometry>
      <origin rpy="0 0 0" xyz="0 0 0"/>
    </visual>
  </link>
  <joint name="finger[2]/flexible_joint_twist_from_8_to_9" type="revolute">
    <parent link="finger[2]/flexible_link_hidden_between_8_and_9"/>
    <child link="finger[2]/flexible_link_9"/>
    <origin xyz="0 0 0"/>
    <axis xyz="0 0 1"/>
    <limit effort="1000.0" lower="0.0" upper="1.57" velocity="0.5"/>
  </joint>
  <joint name="finger[2]/flexible_joint_flex_from_proximal_to_1" type="revolute">
    <parent link="finger[2]/proximal_link"/>
    <child link="finger[2]/flexible_link_hidden_between_proximal_link_and_1"/>
    <origin xyz="0 0 0.062"/>
    <axis xyz="-1 0 0"/>
    <limit effort="1000.0" lower="0.0" upper="1.57" velocity="0.5"/>
  </joint>
  <link name="finger[2]/flexible_link_hidden_between_proximal_link_and_1">
    <inertial>
      <mass value="0.1"/>
      <origin xyz="0 0 0"/>
      <inertia ixx="0.001" ixy="0.0" ixz="0.0" iyy="0.001" iyz="0.0" izz="0.001"/>
    </inertial>
    <collision>
      <geometry>
        <box size="0 0 0"/>
      </geometry>
      <origin rpy="0 0 0" xyz="0 0 0"/>
    </collision>
    <visual>
      <geometry>
        <box size="0 0 0"/>
      </geometry>
      <origin rpy="0 0 0" xyz="0 0 0"/>
    </visual>
  </link>
  <joint name="finger[2]/flexible_joint_twist_from_proximal_to_1" type="revolute">
    <parent link="finger[2]/flexible_link_hidden_between_proximal_link_and_1"/>
    <child link="finger[2]/flexible_link_1"/>
    <origin xyz="0 0 0"/>
    <axis xyz="0 0 1"/>
    <limit effort="1000.0" lower="0.0" upper="1.57" velocity="0.5"/>
  </joint>
  <joint name="finger[2]/flexible_joint_flex_from_9_to_distal" type="revolute">
    <parent link="finger[2]/flexible_link_9"/>
    <child link="finger[2]/flexible_link_hidden_between_9_and_distal_link"/>
    <origin xyz="0 0 0.00177777777778"/>
    <axis xyz="-1 0 0"/>
    <limit effort="1000.0" lower="0.0" upper="1.57" velocity="0.5"/>
  </joint>
  <link name="finger[2]/flexible_link_hidden_between_9_and_distal_link">
    <inertial>
      <mass value="0.1"/>
      <origin xyz="0 0 0"/>
      <inertia ixx="0.001" ixy="0.0" ixz="0.0" iyy="0.001" iyz="0.0" izz="0.001"/>
    </inertial>
    <collision>
      <geometry>
        <box size="0 0 0"/>
      </geometry>
      <origin rpy="0 0 0" xyz="0 0 0"/>
    </collision>
    <visual>
      <geometry>
        <box size="0 0 0"/>
      </geometry>
      <origin rpy="0 0 0" xyz="0 0 0"/>
    </visual>
  </link>
  <joint name="finger[2]/flexible_joint_twist_from_9_to_distal" type="revolute">
    <parent link="finger[2]/flexible_link_hidden_between_9_and_distal_link"/>
    <child link="finger[2]/distal_link"/>
    <origin xyz="0 0 0"/>
    <axis xyz="0 0 1"/>
    <limit effort="1000.0" lower="0.0" upper="1.57" velocity="0.5"/>
  </joint>
  <link name="base_link">
    <inertial>
      <mass value="0.1"/>
      <origin xyz="0 0 0"/>
      <inertia ixx="0.001" ixy="0.0" ixz="0.0" iyy="0.001" iyz="0.0" izz="0.001"/>
    </inertial>
    <visual>
      <geometry>
        <mesh filename="package://irobot_hand/meshes/palm.stl"/>
      </geometry>
      <material name="darkgray">
        <color rgba="0.2 0.2 0.2 1"/>
      </material>
      <origin rpy="0 0 0" xyz="0 -0.038 -0.023"/>
    </visual>
    <collision>
      <geometry>
        <mesh filename="package://irobot_hand/meshes/palm.stl"/>
      </geometry>
      <origin rpy="0 0 0" xyz="0 -0.038 -0.023"/>
    </collision>
  </link>
  <link name="finger[0]/base_rotation_link">
    <inertial>
      <mass value="0.1"/>
      <origin xyz="0 0 0"/>
      <inertia ixx="0.001" ixy="0.0" ixz="0.0" iyy="0.001" iyz="0.0" izz="0.001"/>
    </inertial>
    <collision>
      <geometry>
        <mesh filename="package://irobot_hand/meshes/finger_base.stl"/>
      </geometry>
      <origin rpy="1.57 0 0" xyz="0 0 0"/>
    </collision>
    <visual>
      <geometry>
        <mesh filename="package://irobot_hand/meshes/finger_base.stl"/>
      </geometry>
      <material name="darkgray">
        <color rgba="0.2 0.2 0.2 1"/>
      </material>
      <origin rpy="1.57 0 0" xyz="0 0 0"/>
    </visual>
  </link>
  <link name="finger[0]/proximal_link">
    <inertial>
      <mass value="0.1"/>
      <origin xyz="0 0 0"/>
      <inertia ixx="0.001" ixy="0.0" ixz="0.0" iyy="0.001" iyz="0.0" izz="0.001"/>
    </inertial>
    <collision>
      <geometry>
        <mesh filename="package://irobot_hand/meshes/finger_proximal.stl"/>
      </geometry>
      <origin rpy="1.57 -1.57 0" xyz="0 0 0"/>
    </collision>
    <visual>
      <geometry>
        <mesh filename="package://irobot_hand/meshes/finger_proximal.stl"/>
      </geometry>
      <material name="green">
        <color rgba="0.1 0.6 0.1 1"/>
      </material>
      <origin rpy="1.57 -1.57 0" xyz="0 0 0"/>
    </visual>
  </link>
  <link name="finger[0]/distal_link">
    <inertial>
      <mass value="0.1"/>
      <origin xyz="0 0 0"/>
      <inertia ixx="0.001" ixy="0.0" ixz="0.0" iyy="0.001" iyz="0.0" izz="0.001"/>
    </inertial>
    <collision>
      <geometry>
        <mesh filename="package://irobot_hand/meshes/finger_distal.stl"/>
      </geometry>
      <origin rpy="0 3.14 0" xyz="0 0 0"/>
    </collision>
    <visual>
      <geometry>
        <mesh filename="package://irobot_hand/meshes/finger_distal.stl"/>
      </geometry>
      <material name="green">
        <color rgba="0.1 0.6 0.1 1"/>
      </material>
      <origin rpy="0 3.14 0" xyz="0 0 0"/>
    </visual>
  </link>
  <link name="finger[1]/base_rotation_link">
    <inertial>
      <mass value="0.1"/>
      <origin xyz="0 0 0"/>
      <inertia ixx="0.001" ixy="0.0" ixz="0.0" iyy="0.001" iyz="0.0" izz="0.001"/>
    </inertial>
    <collision>
      <geometry>
        <mesh filename="package://irobot_hand/meshes/finger_base.stl"/>
      </geometry>
      <origin rpy="1.57 0 0" xyz="0 0 0"/>
    </collision>
    <visual>
      <geometry>
        <mesh filename="package://irobot_hand/meshes/finger_base.stl"/>
      </geometry>
      <material name="darkgray">
        <color rgba="0.2 0.2 0.2 1"/>
      </material>
      <origin rpy="1.57 0 0" xyz="0 0 0"/>
    </visual>
  </link>
  <link name="finger[1]/proximal_link">
    <inertial>
      <mass value="0.1"/>
      <origin xyz="0 0 0"/>
      <inertia ixx="0.001" ixy="0.0" ixz="0.0" iyy="0.001" iyz="0.0" izz="0.001"/>
    </inertial>
    <collision>
      <geometry>
        <mesh filename="package://irobot_hand/meshes/finger_proximal.stl"/>
      </geometry>
      <origin rpy="1.57 -1.57 0" xyz="0 0 0"/>
    </collision>
    <visual>
      <geometry>
        <mesh filename="package://irobot_hand/meshes/finger_proximal.stl"/>
      </geometry>
      <material name="green">
        <color rgba="0.1 0.6 0.1 1"/>
      </material>
      <origin rpy="1.57 -1.57 0" xyz="0 0 0"/>
    </visual>
  </link>
  <link name="finger[1]/distal_link">
    <inertial>
      <mass value="0.1"/>
      <origin xyz="0 0 0"/>
      <inertia ixx="0.001" ixy="0.0" ixz="0.0" iyy="0.001" iyz="0.0" izz="0.001"/>
    </inertial>
    <collision>
      <geometry>
        <mesh filename="package://irobot_hand/meshes/finger_distal.stl"/>
      </geometry>
      <origin rpy="0 3.14 0" xyz="0 0 0"/>
    </collision>
    <visual>
      <geometry>
        <mesh filename="package://irobot_hand/meshes/finger_distal.stl"/>
      </geometry>
      <material name="green">
        <color rgba="0.1 0.6 0.1 1"/>
      </material>
      <origin rpy="0 3.14 0" xyz="0 0 0"/>
    </visual>
  </link>
  <link name="finger[2]/proximal_link">
    <inertial>
      <mass value="0.1"/>
      <origin xyz="0 0 0"/>
      <inertia ixx="0.001" ixy="0.0" ixz="0.0" iyy="0.001" iyz="0.0" izz="0.001"/>
    </inertial>
    <collision>
      <geometry>
        <mesh filename="package://irobot_hand/meshes/finger_proximal.stl"/>
      </geometry>
      <origin rpy="1.57 -1.57 0" xyz="0 0 0"/>
    </collision>
    <visual>
      <geometry>
        <mesh filename="package://irobot_hand/meshes/finger_proximal.stl"/>
      </geometry>
      <material name="green">
        <color rgba="0.1 0.6 0.1 1"/>
      </material>
      <origin rpy="1.57 -1.57 0" xyz="0 0 0"/>
    </visual>
  </link>
  <link name="finger[2]/distal_link">
    <inertial>
      <mass value="0.1"/>
      <origin xyz="0 0 0"/>
      <inertia ixx="0.001" ixy="0.0" ixz="0.0" iyy="0.001" iyz="0.0" izz="0.001"/>
    </inertial>
    <collision>
      <geometry>
        <mesh filename="package://irobot_hand/meshes/finger_distal.stl"/>
      </geometry>
      <origin rpy="0 3.14 0" xyz="0 0 0"/>
    </collision>
    <visual>
      <geometry>
        <mesh filename="package://irobot_hand/meshes/finger_distal.stl"/>
      </geometry>
      <material name="green">
        <color rgba="0.1 0.6 0.1 1"/>
      </material>
      <origin rpy="0 3.14 0" xyz="0 0 0"/>
    </visual>
  </link>
  <joint name="finger[0]/joint_base_rotation" type="revolute">
    <parent link="base_link"/>
    <child link="finger[0]/base_rotation_link"/>
    <origin rpy="0 0 0" xyz="0.03075 0.038 0.069477"/>
    <axis xyz="0 0 -1"/>
    <limit effort="1000.0" lower="0.0" upper="1.57" velocity="0.5"/>
  </joint>
  <joint name="finger[0]/joint_base" type="revolute">
    <parent link="finger[0]/base_rotation_link"/>
    <child link="finger[0]/proximal_link"/>
    <origin rpy="1.57 0 -3.14" xyz="0 0 0.0135"/>
    <axis xyz="-1 0 0"/>
    <limit effort="1000.0" lower="0.0" upper="1.57" velocity="0.5"/>
  </joint>
  <joint name="finger[1]/joint_base_rotation" type="revolute">
    <parent link="base_link"/>
    <child link="finger[1]/base_rotation_link"/>
    <origin rpy="0 0 0" xyz="-0.03075 0.038 0.069477"/>
    <axis xyz="0 0 1"/>
    <limit effort="1000.0" lower="0.0" upper="1.57" velocity="0.5"/>
  </joint>
  <joint name="finger[1]/joint_base" type="revolute">
    <parent link="finger[1]/base_rotation_link"/>
    <child link="finger[1]/proximal_link"/>
    <origin rpy="1.57 0 -3.14" xyz="0 0 0.0135"/>
    <axis xyz="-1 0 0"/>
    <limit effort="1000.0" lower="0.0" upper="1.57" velocity="0.5"/>
  </joint>
  <joint name="finger[2]/joint_base" type="revolute">
    <parent link="base_link"/>
    <child link="finger[2]/proximal_link"/>
    <origin rpy="1.57 0 0" xyz="0 -0.038 0.082755"/>
    <axis xyz="-1 0 0"/>
    <limit effort="1000.0" lower="0.0" upper="1.57" velocity="0.5"/>
  </joint>



</robot>
